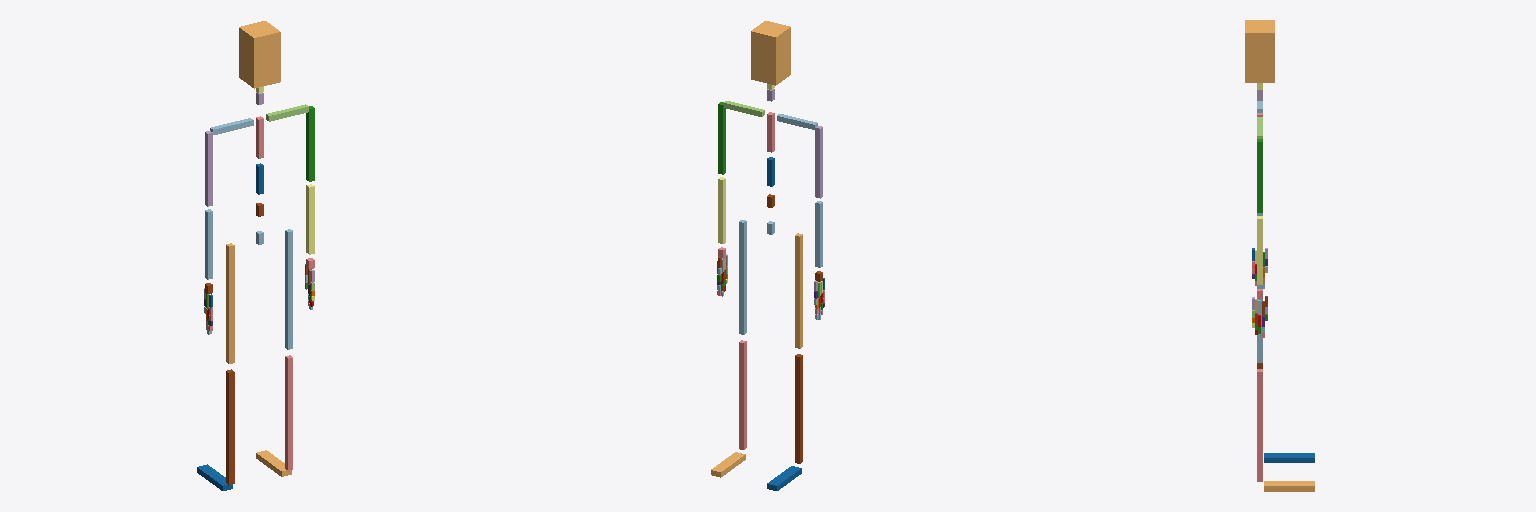
--- What the picture shows (computed from the rendered views, not written in the file) ---
3 views of the same robot in one strip: view 1: azimuth 30°, elevation 25°; view 2: azimuth 150°, elevation 25°; view 3: azimuth 270°, elevation 25° (orthographic).
Model converted with 179 links and 178 joints (178 revolute), rooted at base_link, posed every joint at zero.
Visible links, largest first — view 1: link_Head_Y, link_LeftUpLeg_Y, link_LeftLeg_Y, link_RightUpLeg_Y, link_RightLeg_Y, link_RightArm_Y, link_RightForeArm_Y, link_LeftArm_Y, link_LeftForeArm_Y; view 2: link_Head_Y, link_LeftUpLeg_Y, link_RightUpLeg_Y, link_LeftLeg_Y, link_RightLeg_Y, link_LeftArm_Y, link_RightArm_Y, link_RightForeArm_Y, link_LeftForeArm_Y; view 3: link_Head_Y, link_RightLeg_Y, link_RightFoot_Y.
Boxes of the visible links, bbox=[...] form: link_Head_Y: bbox=[239, 21, 280, 88]; link_LeftUpLeg_Y: bbox=[226, 243, 234, 363]; link_LeftLeg_Y: bbox=[226, 369, 234, 484]; link_RightUpLeg_Y: bbox=[285, 229, 292, 349]; link_RightLeg_Y: bbox=[285, 355, 292, 470]; link_RightArm_Y: bbox=[306, 106, 314, 181]; link_RightForeArm_Y: bbox=[306, 184, 314, 254]; link_LeftArm_Y: bbox=[205, 131, 212, 206]; link_LeftForeArm_Y: bbox=[205, 209, 212, 279]; link_Head_Y: bbox=[751, 21, 790, 85]; link_LeftUpLeg_Y: bbox=[795, 233, 802, 348]; link_RightUpLeg_Y: bbox=[739, 220, 746, 334]; link_LeftLeg_Y: bbox=[795, 354, 802, 463]; link_RightLeg_Y: bbox=[739, 340, 746, 449]; link_LeftArm_Y: bbox=[815, 126, 822, 198]; link_RightArm_Y: bbox=[718, 102, 725, 174]; link_RightForeArm_Y: bbox=[718, 177, 725, 243]; link_LeftForeArm_Y: bbox=[815, 201, 822, 267]; link_Head_Y: bbox=[1245, 20, 1274, 82]; link_RightLeg_Y: bbox=[1257, 369, 1262, 481]; link_RightFoot_Y: bbox=[1264, 481, 1314, 491].
Bounding box of the posed robot: 0.4 × 0.2313 × 1.63 m (x, y, z).
Geometry: primitives only (box / cylinder / sphere), no mesh files.

URDF robot description (converted):
<?xml version="1.0"?>
<robot name="converted">
    <!--LINKS-->
    <link name="base_link" />
    <link name="link_Hips_R" />
    <link name="link_Hips_P" />
    <link name="link_Hips_Y">
        <inertia ixx="1.0" ixy="0.0" ixz="0.0" iyy="1.0" iyz="0.0" izz="1.0" />
        <mass value="5.000000" />
        <visual>
            <origin rpy="0 0 0" xyz="0 0 0" />
            <geometry>
                <box size="0.02 0.02 0.04" />
            </geometry>
            <material name="mat_col_(0.6509803921568628, 0.807843137254902, 0.8901960784313725)">
                <color rgba="0.65 0.81 0.89 1.0" />
            </material>
        </visual>
    </link>
    <link name="link_RightUpLeg_R" />
    <link name="link_RightUpLeg_P" />
    <link name="link_RightUpLeg_Y">
        <inertia ixx="1.0" ixy="0.0" ixz="0.0" iyy="1.0" iyz="0.0" izz="1.0" />
        <mass value="5.000000" />
        <visual>
            <origin rpy="0 0 0" xyz="0 0 -0.21" />
            <geometry>
                <box size="0.02 0.02 0.42" />
            </geometry>
            <material name="mat_col_(0.6509803921568628, 0.807843137254902, 0.8901960784313725)">
                <color rgba="0.65 0.81 0.89 1.0" />
            </material>
        </visual>
    </link>
    <link name="link_RightLeg_R" />
    <link name="link_RightLeg_P" />
    <link name="link_RightLeg_Y">
        <inertia ixx="1.0" ixy="0.0" ixz="0.0" iyy="1.0" iyz="0.0" izz="1.0" />
        <mass value="5.000000" />
        <visual>
            <origin rpy="0 0 0" xyz="0 0 -0.2" />
            <geometry>
                <box size="0.02 0.02 0.4" />
            </geometry>
            <material name="mat_col_(0.984313725490196, 0.6039215686274509, 0.6)">
                <color rgba="0.98 0.60 0.60 1.0" />
            </material>
        </visual>
    </link>
    <link name="link_RightFoot_R" />
    <link name="link_RightFoot_P" />
    <link name="link_RightFoot_Y">
        <inertia ixx="1.0" ixy="0.0" ixz="0.0" iyy="1.0" iyz="0.0" izz="1.0" />
        <mass value="5.000000" />
        <visual>
            <origin rpy="0 0 0" xyz="0 0.0978897124528885 0" />
            <geometry>
                <box size="0.04 0.16677506566047667 0.02" />
            </geometry>
            <material name="mat_col_(0.9921568627450981, 0.7490196078431373, 0.43529411764705883)">
                <color rgba="0.99 0.75 0.44 1.0" />
            </material>
        </visual>
    </link>
    <link name="link_LeftUpLeg_R" />
    <link name="link_LeftUpLeg_P" />
    <link name="link_LeftUpLeg_Y">
        <inertia ixx="1.0" ixy="0.0" ixz="0.0" iyy="1.0" iyz="0.0" izz="1.0" />
        <mass value="5.000000" />
        <visual>
            <origin rpy="0 0 0" xyz="0 0 -0.21" />
            <geometry>
                <box size="0.02 0.02 0.42" />
            </geometry>
            <material name="mat_col_(0.9921568627450981, 0.7490196078431373, 0.43529411764705883)">
                <color rgba="0.99 0.75 0.44 1.0" />
            </material>
        </visual>
    </link>
    <link name="link_LeftLeg_R" />
    <link name="link_LeftLeg_P" />
    <link name="link_LeftLeg_Y">
        <inertia ixx="1.0" ixy="0.0" ixz="0.0" iyy="1.0" iyz="0.0" izz="1.0" />
        <mass value="5.000000" />
        <visual>
            <origin rpy="0 0 0" xyz="0 0 -0.2" />
            <geometry>
                <box size="0.02 0.02 0.4" />
            </geometry>
            <material name="mat_col_(0.6941176470588235, 0.34901960784313724, 0.1568627450980392)">
                <color rgba="0.69 0.35 0.16 1.0" />
            </material>
        </visual>
    </link>
    <link name="link_LeftFoot_R" />
    <link name="link_LeftFoot_P" />
    <link name="link_LeftFoot_Y">
        <inertia ixx="1.0" ixy="0.0" ixz="0.0" iyy="1.0" iyz="0.0" izz="1.0" />
        <mass value="5.000000" />
        <visual>
            <origin rpy="0 0 0" xyz="0 0.0978897124528885 0" />
            <geometry>
                <box size="0.04 0.16677506566047667 0.02" />
            </geometry>
            <material name="mat_col_(0.12156862745098039, 0.47058823529411764, 0.7058823529411765)">
                <color rgba="0.12 0.47 0.71 1.0" />
            </material>
        </visual>
    </link>
    <link name="link_Spine_R" />
    <link name="link_Spine_P" />
    <link name="link_Spine_Y">
        <inertia ixx="1.0" ixy="0.0" ixz="0.0" iyy="1.0" iyz="0.0" izz="1.0" />
        <mass value="5.000000" />
        <visual>
            <origin rpy="0 0 0" xyz="0 0 0.02" />
            <geometry>
                <box size="0.02 0.02 0.04" />
            </geometry>
            <material name="mat_col_(0.6941176470588235, 0.34901960784313724, 0.1568627450980392)">
                <color rgba="0.69 0.35 0.16 1.0" />
            </material>
        </visual>
    </link>
    <link name="link_Spine1_R" />
    <link name="link_Spine1_P" />
    <link name="link_Spine1_Y">
        <inertia ixx="1.0" ixy="0.0" ixz="0.0" iyy="1.0" iyz="0.0" izz="1.0" />
        <mass value="5.000000" />
        <visual>
            <origin rpy="0 0 0" xyz="0 0 0.05" />
            <geometry>
                <box size="0.02 0.02 0.10" />
            </geometry>
            <material name="mat_col_(0.12156862745098039, 0.47058823529411764, 0.7058823529411765)">
                <color rgba="0.12 0.47 0.71 1.0" />
            </material>
        </visual>
    </link>
    <link name="link_Spine2_R" />
    <link name="link_Spine2_P" />
    <link name="link_Spine2_Y">
        <inertia ixx="1.0" ixy="0.0" ixz="0.0" iyy="1.0" iyz="0.0" izz="1.0" />
        <mass value="5.000000" />
        <visual>
            <origin rpy="0 0 0" xyz="0 0 0.07" />
            <geometry>
                <box size="0.02 0.02 0.14" />
            </geometry>
            <material name="mat_col_(0.984313725490196, 0.6039215686274509, 0.6)">
                <color rgba="0.98 0.60 0.60 1.0" />
            </material>
        </visual>
    </link>
    <link name="link_Neck_R" />
    <link name="link_Neck_P" />
    <link name="link_Neck_Y">
        <inertia ixx="1.0" ixy="0.0" ixz="0.0" iyy="1.0" iyz="0.0" izz="1.0" />
        <mass value="5.000000" />
        <visual>
            <origin rpy="0 0 0" xyz="0 0 0.02" />
            <geometry>
                <box size="0.02 0.02 0.04" />
            </geometry>
            <material name="mat_col_(0.792156862745098, 0.6980392156862745, 0.8392156862745098)">
                <color rgba="0.79 0.70 0.84 1.0" />
            </material>
        </visual>
    </link>
    <link name="link_Neck1_R" />
    <link name="link_Neck1_P" />
    <link name="link_Neck1_Y">
        <inertia ixx="1.0" ixy="0.0" ixz="0.0" iyy="1.0" iyz="0.0" izz="1.0" />
        <mass value="5.000000" />
        <visual>
            <origin rpy="0 0 0" xyz="0 0 0.02" />
            <geometry>
                <box size="0.02 0.02 0.04" />
            </geometry>
            <material name="mat_col_(1.0, 1.0, 0.6)">
                <color rgba="1.00 1.00 0.60 1.0" />
            </material>
        </visual>
    </link>
    <link name="link_Head_R" />
    <link name="link_Head_P" />
    <link name="link_Head_Y">
        <inertia ixx="1.0" ixy="0.0" ixz="0.0" iyy="1.0" iyz="0.0" izz="1.0" />
        <mass value="5.000000" />
        <visual>
            <origin rpy="0 0 0" xyz="0 0 0.09" />
            <geometry>
                <box size="0.10 0.10 0.18" />
            </geometry>
            <material name="mat_col_(0.9921568627450981, 0.7490196078431373, 0.43529411764705883)">
                <color rgba="0.99 0.75 0.44 1.0" />
            </material>
        </visual>
    </link>
    <link name="link_RightShoulder_R" />
    <link name="link_RightShoulder_P" />
    <link name="link_RightShoulder_Y">
        <inertia ixx="1.0" ixy="0.0" ixz="0.0" iyy="1.0" iyz="0.0" izz="1.0" />
        <mass value="5.000000" />
        <visual>
            <origin rpy="0 0 0" xyz="0.075 0  0" />
            <geometry>
                <box size="0.15 0.02 0.02" />
            </geometry>
            <material name="mat_col_(0.6980392156862745, 0.8745098039215686, 0.5411764705882353)">
                <color rgba="0.70 0.87 0.54 1.0" />
            </material>
        </visual>
    </link>
    <link name="link_RightArm_R" />
    <link name="link_RightArm_P" />
    <link name="link_RightArm_Y">
        <inertia ixx="1.0" ixy="0.0" ixz="0.0" iyy="1.0" iyz="0.0" izz="1.0" />
        <mass value="5.000000" />
        <visual>
            <origin rpy="0 0 0" xyz="0 0 -0.13" />
            <geometry>
                <box size="0.02 0.02 0.26" />
            </geometry>
            <material name="mat_col_(0.2, 0.6274509803921569, 0.17254901960784313)">
                <color rgba="0.20 0.63 0.17 1.0" />
            </material>
        </visual>
    </link>
    <link name="link_RightForeArm_R" />
    <link name="link_RightForeArm_P" />
    <link name="link_RightForeArm_Y">
        <inertia ixx="1.0" ixy="0.0" ixz="0.0" iyy="1.0" iyz="0.0" izz="1.0" />
        <mass value="5.000000" />
        <visual>
            <origin rpy="0 0 0" xyz="0 0 -0.12" />
            <geometry>
                <box size="0.02 0.02 0.24" />
            </geometry>
            <material name="mat_col_(1.0, 1.0, 0.6)">
                <color rgba="1.00 1.00 0.60 1.0" />
            </material>
        </visual>
    </link>
    <link name="link_RightHand_R" />
    <link name="link_RightHand_P" />
    <link name="link_RightHand_Y">
        <inertia ixx="1.0" ixy="0.0" ixz="0.0" iyy="1.0" iyz="0.0" izz="1.0" />
        <mass value="5.000000" />
        <visual>
            <origin rpy="0 0 0" xyz="0 0 -0.017634012177586554" />
            <geometry>
                <box size="0.02 0.02 0.030043131858110427" />
            </geometry>
            <material name="mat_col_(0.984313725490196, 0.6039215686274509, 0.6)">
                <color rgba="0.98 0.60 0.60 1.0" />
            </material>
        </visual>
    </link>
    <link name="link_RightHandThumb1_R" />
    <link name="link_RightHandThumb1_P" />
    <link name="link_RightHandThumb1_Y">
        <inertia ixx="1.0" ixy="0.0" ixz="0.0" iyy="1.0" iyz="0.0" izz="1.0" />
        <mass value="5.000000" />
        <visual>
            <origin rpy="0 0 0" xyz="0 0 -0.02090881034731865" />
            <geometry>
                <box size="0.01 0.01 0.035622417628765106" />
            </geometry>
            <material name="mat_col_(0.6941176470588235, 0.34901960784313724, 0.1568627450980392)">
                <color rgba="0.69 0.35 0.16 1.0" />
            </material>
        </visual>
    </link>
    <link name="link_RightHandThumb2_R" />
    <link name="link_RightHandThumb2_P" />
    <link name="link_RightHandThumb2_Y">
        <inertia ixx="1.0" ixy="0.0" ixz="0.0" iyy="1.0" iyz="0.0" izz="1.0" />
        <mass value="5.000000" />
        <visual>
            <origin rpy="0 0 0" xyz="0 0 -0.014525998458266258" />
            <geometry>
                <box size="0.01 0.01 0.024747997373342514" />
            </geometry>
            <material name="mat_col_(0.6509803921568628, 0.807843137254902, 0.8901960784313725)">
                <color rgba="0.65 0.81 0.89 1.0" />
            </material>
        </visual>
    </link>
    <link name="link_RightHandThumb3_R" />
    <link name="link_RightHandThumb3_P" />
    <link name="link_RightHandThumb3_Y">
        <inertia ixx="1.0" ixy="0.0" ixz="0.0" iyy="1.0" iyz="0.0" izz="1.0" />
        <mass value="5.000000" />
        <visual>
            <origin rpy="0 0 0" xyz="0 0 -0.013699802979826927" />
            <geometry>
                <box size="0.01 0.01 0.023340405076742173" />
            </geometry>
            <material name="mat_col_(0.2, 0.6274509803921569, 0.17254901960784313)">
                <color rgba="0.20 0.63 0.17 1.0" />
            </material>
        </visual>
    </link>
    <link name="link_RightInHandIndex_R" />
    <link name="link_RightInHandIndex_P" />
    <link name="link_RightInHandIndex_Y">
        <inertia ixx="1.0" ixy="0.0" ixz="0.0" iyy="1.0" iyz="0.0" izz="1.0" />
        <mass value="5.000000" />
        <visual>
            <origin rpy="0 0 0" xyz="0 0 -0.030162290632724763" />
            <geometry>
                <box size="0.01 0.01 0.051387606263160704" />
            </geometry>
            <material name="mat_col_(0.6941176470588235, 0.34901960784313724, 0.1568627450980392)">
                <color rgba="0.69 0.35 0.16 1.0" />
            </material>
        </visual>
    </link>
    <link name="link_RightHandIndex1_R" />
    <link name="link_RightHandIndex1_P" />
    <link name="link_RightHandIndex1_Y">
        <inertia ixx="1.0" ixy="0.0" ixz="0.0" iyy="1.0" iyz="0.0" izz="1.0" />
        <mass value="5.000000" />
        <visual>
            <origin rpy="0 0 0" xyz="0 0 -0.020552407130599023" />
            <geometry>
                <box size="0.01 0.01 0.03501521214842796" />
            </geometry>
            <material name="mat_col_(0.41568627450980394, 0.23921568627450981, 0.6039215686274509)">
                <color rgba="0.42 0.24 0.60 1.0" />
            </material>
        </visual>
    </link>
    <link name="link_RightHandIndex2_R" />
    <link name="link_RightHandIndex2_P" />
    <link name="link_RightHandIndex2_Y">
        <inertia ixx="1.0" ixy="0.0" ixz="0.0" iyy="1.0" iyz="0.0" izz="1.0" />
        <mass value="5.000000" />
        <visual>
            <origin rpy="0 0 0" xyz="0 0 -0.011653190664947032" />
            <geometry>
                <box size="0.01 0.01 0.019853584095835687" />
            </geometry>
            <material name="mat_col_(0.6509803921568628, 0.807843137254902, 0.8901960784313725)">
                <color rgba="0.65 0.81 0.89 1.0" />
            </material>
        </visual>
    </link>
    <link name="link_RightHandIndex3_R" />
    <link name="link_RightHandIndex3_P" />
    <link name="link_RightHandIndex3_Y">
        <inertia ixx="1.0" ixy="0.0" ixz="0.0" iyy="1.0" iyz="0.0" izz="1.0" />
        <mass value="5.000000" />
        <visual>
            <origin rpy="0 0 0" xyz="0 0 -0.010249215178191662" />
            <geometry>
                <box size="0.01 0.01 0.01746162585914135" />
            </geometry>
            <material name="mat_col_(0.984313725490196, 0.6039215686274509, 0.6)">
                <color rgba="0.98 0.60 0.60 1.0" />
            </material>
        </visual>
    </link>
    <link name="link_RightInHandMiddle_R" />
    <link name="link_RightInHandMiddle_P" />
    <link name="link_RightInHandMiddle_Y">
        <inertia ixx="1.0" ixy="0.0" ixz="0.0" iyy="1.0" iyz="0.0" izz="1.0" />
        <mass value="5.000000" />
        <visual>
            <origin rpy="0 0 0" xyz="0 0 -0.02943922273814678" />
            <geometry>
                <box size="0.01 0.01 0.050155712813138964" />
            </geometry>
            <material name="mat_col_(0.6509803921568628, 0.807843137254902, 0.8901960784313725)">
                <color rgba="0.65 0.81 0.89 1.0" />
            </material>
        </visual>
    </link>
    <link name="link_RightHandMiddle1_R" />
    <link name="link_RightHandMiddle1_P" />
    <link name="link_RightHandMiddle1_Y">
        <inertia ixx="1.0" ixy="0.0" ixz="0.0" iyy="1.0" iyz="0.0" izz="1.0" />
        <mass value="5.000000" />
        <visual>
            <origin rpy="0 0 0" xyz="0 0 -0.022426203042268753" />
            <geometry>
                <box size="0.01 0.01 0.03820760518312454" />
            </geometry>
            <material name="mat_col_(0.8901960784313725, 0.10196078431372549, 0.10980392156862745)">
                <color rgba="0.89 0.10 0.11 1.0" />
            </material>
        </visual>
    </link>
    <link name="link_RightHandMiddle2_R" />
    <link name="link_RightHandMiddle2_P" />
    <link name="link_RightHandMiddle2_Y">
        <inertia ixx="1.0" ixy="0.0" ixz="0.0" iyy="1.0" iyz="0.0" izz="1.0" />
        <mass value="5.000000" />
        <visual>
            <origin rpy="0 0 0" xyz="0 0 -0.014056202173233032" />
            <geometry>
                <box size="0.01 0.01 0.023947603702545166" />
            </geometry>
            <material name="mat_col_(0.2, 0.6274509803921569, 0.17254901960784313)">
                <color rgba="0.20 0.63 0.17 1.0" />
            </material>
        </visual>
    </link>
    <link name="link_RightHandMiddle3_R" />
    <link name="link_RightHandMiddle3_P" />
    <link name="link_RightHandMiddle3_Y">
        <inertia ixx="1.0" ixy="0.0" ixz="0.0" iyy="1.0" iyz="0.0" izz="1.0" />
        <mass value="5.000000" />
        <visual>
            <origin rpy="0 0 0" xyz="0 0 -0.011210399866104125" />
            <geometry>
                <box size="0.01 0.01 0.019099199771881105" />
            </geometry>
            <material name="mat_col_(0.6509803921568628, 0.807843137254902, 0.8901960784313725)">
                <color rgba="0.65 0.81 0.89 1.0" />
            </material>
        </visual>
    </link>
    <link name="link_RightInHandRing_R" />
    <link name="link_RightInHandRing_P" />
    <link name="link_RightInHandRing_Y">
        <inertia ixx="1.0" ixy="0.0" ixz="0.0" iyy="1.0" iyz="0.0" izz="1.0" />
        <mass value="5.000000" />
        <visual>
            <origin rpy="0 0 0" xyz="0 0 -0.026454875618219374" />
            <geometry>
                <box size="0.01 0.01 0.04507126957178116" />
            </geometry>
            <material name="mat_col_(0.9921568627450981, 0.7490196078431373, 0.43529411764705883)">
                <color rgba="0.99 0.75 0.44 1.0" />
            </material>
        </visual>
    </link>
    <link name="link_RightHandRing1_R" />
    <link name="link_RightHandRing1_P" />
    <link name="link_RightHandRing1_Y">
        <inertia ixx="1.0" ixy="0.0" ixz="0.0" iyy="1.0" iyz="0.0" izz="1.0" />
        <mass value="5.000000" />
        <visual>
            <origin rpy="0 0 0" xyz="0 0 -0.019542589634656906" />
            <geometry>
                <box size="0.01 0.01 0.03329478234052658" />
            </geometry>
            <material name="mat_col_(0.6941176470588235, 0.34901960784313724, 0.1568627450980392)">
                <color rgba="0.69 0.35 0.16 1.0" />
            </material>
        </visual>
    </link>
    <link name="link_RightHandRing2_R" />
    <link name="link_RightHandRing2_P" />
    <link name="link_RightHandRing2_Y">
        <inertia ixx="1.0" ixy="0.0" ixz="0.0" iyy="1.0" iyz="0.0" izz="1.0" />
        <mass value="5.000000" />
        <visual>
            <origin rpy="0 0 0" xyz="0 0 -0.01355940341949463" />
            <geometry>
                <box size="0.01 0.01 0.023101205825805663" />
            </geometry>
            <material name="mat_col_(0.2, 0.6274509803921569, 0.17254901960784313)">
                <color rgba="0.20 0.63 0.17 1.0" />
            </material>
        </visual>
    </link>
    <link name="link_RightHandRing3_R" />
    <link name="link_RightHandRing3_P" />
    <link name="link_RightHandRing3_Y">
        <inertia ixx="1.0" ixy="0.0" ixz="0.0" iyy="1.0" iyz="0.0" izz="1.0" />
        <mass value="5.000000" />
        <visual>
            <origin rpy="0 0 0" xyz="0 0 -0.010540791749954224" />
            <geometry>
                <box size="0.01 0.01 0.017958385944366453" />
            </geometry>
            <material name="mat_col_(0.8901960784313725, 0.10196078431372549, 0.10980392156862745)">
                <color rgba="0.89 0.10 0.11 1.0" />
            </material>
        </visual>
    </link>
    <link name="link_RightInHandPinky_R" />
    <link name="link_RightInHandPinky_P" />
    <link name="link_RightInHandPinky_Y">
        <inertia ixx="1.0" ixy="0.0" ixz="0.0" iyy="1.0" iyz="0.0" izz="1.0" />
        <mass value="5.000000" />
        <visual>
            <origin rpy="0 0 0" xyz="0 0 -0.024314074516296386" />
            <geometry>
                <box size="0.01 0.01 0.041423978805541994" />
            </geometry>
            <material name="mat_col_(0.792156862745098, 0.6980392156862745, 0.8392156862745098)">
                <color rgba="0.79 0.70 0.84 1.0" />
            </material>
        </visual>
    </link>
    <link name="link_RightHandPinky1_R" />
    <link name="link_RightHandPinky1_P" />
    <link name="link_RightHandPinky1_Y">
        <inertia ixx="1.0" ixy="0.0" ixz="0.0" iyy="1.0" iyz="0.0" izz="1.0" />
        <mass value="5.000000" />
        <visual>
            <origin rpy="0 0 0" xyz="0 0 -0.015649211034178732" />
            <geometry>
                <box size="0.01 0.01 0.026661618798971175" />
            </geometry>
            <material name="mat_col_(0.6980392156862745, 0.8745098039215686, 0.5411764705882353)">
                <color rgba="0.70 0.87 0.54 1.0" />
            </material>
        </visual>
    </link>
    <link name="link_RightHandPinky2_R" />
    <link name="link_RightHandPinky2_P" />
    <link name="link_RightHandPinky2_Y">
        <inertia ixx="1.0" ixy="0.0" ixz="0.0" iyy="1.0" iyz="0.0" izz="1.0" />
        <mass value="5.000000" />
        <visual>
            <origin rpy="0 0 0" xyz="0 0 -0.009887406639754771" />
            <geometry>
                <box size="0.01 0.01 0.0168452113121748" />
            </geometry>
            <material name="mat_col_(1.0, 0.4980392156862745, 0.0)">
                <color rgba="1.00 0.50 0.00 1.0" />
            </material>
        </visual>
    </link>
    <link name="link_RightHandPinky3_R" />
    <link name="link_RightHandPinky3_P" />
    <link name="link_RightHandPinky3_Y">
        <inertia ixx="1.0" ixy="0.0" ixz="0.0" iyy="1.0" iyz="0.0" izz="1.0" />
        <mass value="5.000000" />
        <visual>
            <origin rpy="0 0 0" xyz="0 0 -0.009342006258666515" />
            <geometry>
                <box size="0.01 0.01 0.015916010662913323" />
            </geometry>
            <material name="mat_col_(1.0, 1.0, 0.6)">
                <color rgba="1.00 1.00 0.60 1.0" />
            </material>
        </visual>
    </link>
    <link name="link_LeftShoulder_R" />
    <link name="link_LeftShoulder_P" />
    <link name="link_LeftShoulder_Y">
        <inertia ixx="1.0" ixy="0.0" ixz="0.0" iyy="1.0" iyz="0.0" izz="1.0" />
        <mass value="5.000000" />
        <visual>
            <origin rpy="0 0 0" xyz="-0.075 0 0" />
            <geometry>
                <box size="0.15 0.02 0.02" />
            </geometry>
            <material name="mat_col_(0.6509803921568628, 0.807843137254902, 0.8901960784313725)">
                <color rgba="0.65 0.81 0.89 1.0" />
            </material>
        </visual>
    </link>
    <link name="link_LeftArm_R" />
    <link name="link_LeftArm_P" />
    <link name="link_LeftArm_Y">
        <inertia ixx="1.0" ixy="0.0" ixz="0.0" iyy="1.0" iyz="0.0" izz="1.0" />
        <mass value="5.000000" />
        <visual>
            <origin rpy="0 0 0" xyz="0 0 -0.13" />
            <geometry>
                <box size="0.02 0.02 0.26" />
            </geometry>
            <material name="mat_col_(0.792156862745098, 0.6980392156862745, 0.8392156862745098)">
                <color rgba="0.79 0.70 0.84 1.0" />
            </material>
        </visual>
    </link>
    <link name="link_LeftForeArm_R" />
    <link name="link_LeftForeArm_P" />
    <link name="link_LeftForeArm_Y">
        <inertia ixx="1.0" ixy="0.0" ixz="0.0" iyy="1.0" iyz="0.0" izz="1.0" />
        <mass value="5.000000" />
        <visual>
            <origin rpy="0 0 0" xyz="0 0 -0.12" />
            <geometry>
                <box size="0.02 0.02 0.24" />
            </geometry>
            <material name="mat_col_(0.6509803921568628, 0.807843137254902, 0.8901960784313725)">
                <color rgba="0.65 0.81 0.89 1.0" />
            </material>
        </visual>
    </link>
    <link name="link_LeftHand_R" />
    <link name="link_LeftHand_P" />
    <link name="link_LeftHand_Y">
        <inertia ixx="1.0" ixy="0.0" ixz="0.0" iyy="1.0" iyz="0.0" izz="1.0" />
        <mass value="5.000000" />
        <visual>
            <origin rpy="0 0 0" xyz="0 0 -0.017634012177586554" />
            <geometry>
                <box size="0.02 0.02 0.030043131858110427" />
            </geometry>
            <material name="mat_col_(0.6941176470588235, 0.34901960784313724, 0.1568627450980392)">
                <color rgba="0.69 0.35 0.16 1.0" />
            </material>
        </visual>
    </link>
    <link name="link_LeftHandThumb1_R" />
    <link name="link_LeftHandThumb1_P" />
    <link name="link_LeftHandThumb1_Y">
        <inertia ixx="1.0" ixy="0.0" ixz="0.0" iyy="1.0" iyz="0.0" izz="1.0" />
        <mass value="5.000000" />
        <visual>
            <origin rpy="0 0 0" xyz="0 0 -0.02090881034731865" />
            <geometry>
                <box size="0.01 0.01 0.035622417628765106" />
            </geometry>
            <material name="mat_col_(0.792156862745098, 0.6980392156862745, 0.8392156862745098)">
                <color rgba="0.79 0.70 0.84 1.0" />
            </material>
        </visual>
    </link>
    <link name="link_LeftHandThumb2_R" />
    <link name="link_LeftHandThumb2_P" />
    <link name="link_LeftHandThumb2_Y">
        <inertia ixx="1.0" ixy="0.0" ixz="0.0" iyy="1.0" iyz="0.0" izz="1.0" />
        <mass value="5.000000" />
        <visual>
            <origin rpy="0 0 0" xyz="0 0 -0.014525998458266258" />
            <geometry>
                <box size="0.01 0.01 0.024747997373342514" />
            </geometry>
            <material name="mat_col_(0.41568627450980394, 0.23921568627450981, 0.6039215686274509)">
                <color rgba="0.42 0.24 0.60 1.0" />
            </material>
        </visual>
    </link>
    <link name="link_LeftHandThumb3_R" />
    <link name="link_LeftHandThumb3_P" />
    <link name="link_LeftHandThumb3_Y">
        <inertia ixx="1.0" ixy="0.0" ixz="0.0" iyy="1.0" iyz="0.0" izz="1.0" />
        <mass value="5.000000" />
        <visual>
            <origin rpy="0 0 0" xyz="0 0 -0.013699802979826927" />
            <geometry>
                <box size="0.01 0.01 0.023340405076742173" />
            </geometry>
            <material name="mat_col_(0.6509803921568628, 0.807843137254902, 0.8901960784313725)">
                <color rgba="0.65 0.81 0.89 1.0" />
            </material>
        </visual>
    </link>
    <link name="link_LeftInHandIndex_R" />
    <link name="link_LeftInHandIndex_P" />
    <link name="link_LeftInHandIndex_Y">
        <inertia ixx="1.0" ixy="0.0" ixz="0.0" iyy="1.0" iyz="0.0" izz="1.0" />
        <mass value="5.000000" />
        <visual>
            <origin rpy="0 0 0" xyz="0 0 -0.030162290632724763" />
            <geometry>
                <box size="0.01 0.01 0.051387606263160704" />
            </geometry>
            <material name="mat_col_(0.2, 0.6274509803921569, 0.17254901960784313)">
                <color rgba="0.20 0.63 0.17 1.0" />
            </material>
        </visual>
    </link>
    <link name="link_LeftHandIndex1_R" />
    <link name="link_LeftHandIndex1_P" />
    <link name="link_LeftHandIndex1_Y">
        <inertia ixx="1.0" ixy="0.0" ixz="0.0" iyy="1.0" iyz="0.0" izz="1.0" />
        <mass value="5.000000" />
        <visual>
            <origin rpy="0 0 0" xyz="0 0 -0.020552407130599023" />
            <geometry>
                <box size="0.01 0.01 0.03501521214842796" />
            </geometry>
            <material name="mat_col_(1.0, 0.4980392156862745, 0.0)">
                <color rgba="1.00 0.50 0.00 1.0" />
            </material>
        </visual>
    </link>
    <link name="link_LeftHandIndex2_R" />
    <link name="link_LeftHandIndex2_P" />
    <link name="link_LeftHandIndex2_Y">
        <inertia ixx="1.0" ixy="0.0" ixz="0.0" iyy="1.0" iyz="0.0" izz="1.0" />
        <mass value="5.000000" />
        <visual>
            <origin rpy="0 0 0" xyz="0 0 -0.011653190664947032" />
            <geometry>
                <box size="0.01 0.01 0.019853584095835687" />
            </geometry>
            <material name="mat_col_(0.984313725490196, 0.6039215686274509, 0.6)">
                <color rgba="0.98 0.60 0.60 1.0" />
            </material>
        </visual>
    </link>
    <link name="link_LeftHandIndex3_R" />
    <link name="link_LeftHandIndex3_P" />
    <link name="link_LeftHandIndex3_Y">
        <inertia ixx="1.0" ixy="0.0" ixz="0.0" iyy="1.0" iyz="0.0" izz="1.0" />
        <mass value="5.000000" />
        <visual>
            <origin rpy="0 0 0" xyz="0 0 -0.010249215178191662" />
            <geometry>
                <box size="0.01 0.01 0.01746162585914135" />
            </geometry>
            <material name="mat_col_(0.6509803921568628, 0.807843137254902, 0.8901960784313725)">
                <color rgba="0.65 0.81 0.89 1.0" />
            </material>
        </visual>
    </link>
    <link name="link_LeftInHandMiddle_R" />
    <link name="link_LeftInHandMiddle_P" />
    <link name="link_LeftInHandMiddle_Y">
        <inertia ixx="1.0" ixy="0.0" ixz="0.0" iyy="1.0" iyz="0.0" izz="1.0" />
        <mass value="5.000000" />
        <visual>
            <origin rpy="0 0 0" xyz="0 0 -0.02943922273814678" />
            <geometry>
                <box size="0.01 0.01 0.050155712813138964" />
            </geometry>
            <material name="mat_col_(0.6980392156862745, 0.8745098039215686, 0.5411764705882353)">
                <color rgba="0.70 0.87 0.54 1.0" />
            </material>
        </visual>
    </link>
    <link name="link_LeftHandMiddle1_R" />
    <link name="link_LeftHandMiddle1_P" />
    <link name="link_LeftHandMiddle1_Y">
        <inertia ixx="1.0" ixy="0.0" ixz="0.0" iyy="1.0" iyz="0.0" izz="1.0" />
        <mass value="5.000000" />
        <visual>
            <origin rpy="0 0 0" xyz="0 0 -0.022426203042268753" />
            <geometry>
                <box size="0.01 0.01 0.03820760518312454" />
            </geometry>
            <material name="mat_col_(0.6941176470588235, 0.34901960784313724, 0.1568627450980392)">
                <color rgba="0.69 0.35 0.16 1.0" />
            </material>
        </visual>
    </link>
    <link name="link_LeftHandMiddle2_R" />
    <link name="link_LeftHandMiddle2_P" />
    <link name="link_LeftHandMiddle2_Y">
        <inertia ixx="1.0" ixy="0.0" ixz="0.0" iyy="1.0" iyz="0.0" izz="1.0" />
        <mass value="5.000000" />
        <visual>
            <origin rpy="0 0 0" xyz="0 0 -0.014056202173233032" />
            <geometry>
                <box size="0.01 0.01 0.023947603702545166" />
            </geometry>
            <material name="mat_col_(0.6509803921568628, 0.807843137254902, 0.8901960784313725)">
                <color rgba="0.65 0.81 0.89 1.0" />
            </material>
        </visual>
    </link>
    <link name="link_LeftHandMiddle3_R" />
    <link name="link_LeftHandMiddle3_P" />
    <link name="link_LeftHandMiddle3_Y">
        <inertia ixx="1.0" ixy="0.0" ixz="0.0" iyy="1.0" iyz="0.0" izz="1.0" />
        <mass value="5.000000" />
        <visual>
            <origin rpy="0 0 0" xyz="0 0 -0.011210399866104125" />
            <geometry>
                <box size="0.01 0.01 0.019099199771881105" />
            </geometry>
            <material name="mat_col_(0.6509803921568628, 0.807843137254902, 0.8901960784313725)">
                <color rgba="0.65 0.81 0.89 1.0" />
            </material>
        </visual>
    </link>
    <link name="link_LeftInHandRing_R" />
    <link name="link_LeftInHandRing_P" />
    <link name="link_LeftInHandRing_Y">
        <inertia ixx="1.0" ixy="0.0" ixz="0.0" iyy="1.0" iyz="0.0" izz="1.0" />
        <mass value="5.000000" />
        <visual>
            <origin rpy="0 0 0" xyz="0 0 -0.026454875618219374" />
            <geometry>
                <box size="0.01 0.01 0.04507126957178116" />
            </geometry>
            <material name="mat_col_(1.0, 1.0, 0.6)">
                <color rgba="1.00 1.00 0.60 1.0" />
            </material>
        </visual>
    </link>
    <link name="link_LeftHandRing1_R" />
    <link name="link_LeftHandRing1_P" />
    <link name="link_LeftHandRing1_Y">
        <inertia ixx="1.0" ixy="0.0" ixz="0.0" iyy="1.0" iyz="0.0" izz="1.0" />
        <mass value="5.000000" />
        <visual>
            <origin rpy="0 0 0" xyz="0 0 -0.019542589634656906" />
            <geometry>
                <box size="0.01 0.01 0.03329478234052658" />
            </geometry>
            <material name="mat_col_(0.8901960784313725, 0.10196078431372549, 0.10980392156862745)">
                <color rgba="0.89 0.10 0.11 1.0" />
            </material>
        </visual>
    </link>
    <link name="link_LeftHandRing2_R" />
    <link name="link_LeftHandRing2_P" />
    <link name="link_LeftHandRing2_Y">
        <inertia ixx="1.0" ixy="0.0" ixz="0.0" iyy="1.0" iyz="0.0" izz="1.0" />
        <mass value="5.000000" />
        <visual>
            <origin rpy="0 0 0" xyz="0 0 -0.01355940341949463" />
            <geometry>
                <box size="0.01 0.01 0.023101205825805663" />
            </geometry>
            <material name="mat_col_(0.2, 0.6274509803921569, 0.17254901960784313)">
                <color rgba="0.20 0.63 0.17 1.0" />
            </material>
        </visual>
    </link>
    <link name="link_LeftHandRing3_R" />
    <link name="link_LeftHandRing3_P" />
    <link name="link_LeftHandRing3_Y">
        <inertia ixx="1.0" ixy="0.0" ixz="0.0" iyy="1.0" iyz="0.0" izz="1.0" />
        <mass value="5.000000" />
        <visual>
            <origin rpy="0 0 0" xyz="0 0 -0.010540791749954224" />
            <geometry>
                <box size="0.01 0.01 0.017958385944366453" />
            </geometry>
            <material name="mat_col_(0.984313725490196, 0.6039215686274509, 0.6)">
                <color rgba="0.98 0.60 0.60 1.0" />
            </material>
        </visual>
    </link>
    <link name="link_LeftInHandPinky_R" />
    <link name="link_LeftInHandPinky_P" />
    <link name="link_LeftInHandPinky_Y">
        <inertia ixx="1.0" ixy="0.0" ixz="0.0" iyy="1.0" iyz="0.0" izz="1.0" />
        <mass value="5.000000" />
        <visual>
            <origin rpy="0 0 0" xyz="0 0 -0.024314074516296386" />
            <geometry>
                <box size="0.01 0.01 0.041423978805541994" />
            </geometry>
            <material name="mat_col_(0.12156862745098039, 0.47058823529411764, 0.7058823529411765)">
                <color rgba="0.12 0.47 0.71 1.0" />
            </material>
        </visual>
    </link>
    <link name="link_LeftHandPinky1_R" />
    <link name="link_LeftHandPinky1_P" />
    <link name="link_LeftHandPinky1_Y">
        <inertia ixx="1.0" ixy="0.0" ixz="0.0" iyy="1.0" iyz="0.0" izz="1.0" />
        <mass value="5.000000" />
        <visual>
            <origin rpy="0 0 0" xyz="0 0 -0.015649211034178732" />
            <geometry>
                <box size="0.01 0.01 0.026661618798971175" />
            </geometry>
            <material name="mat_col_(0.984313725490196, 0.6039215686274509, 0.6)">
                <color rgba="0.98 0.60 0.60 1.0" />
            </material>
        </visual>
    </link>
    <link name="link_LeftHandPinky2_R" />
    <link name="link_LeftHandPinky2_P" />
    <link name="link_LeftHandPinky2_Y">
        <inertia ixx="1.0" ixy="0.0" ixz="0.0" iyy="1.0" iyz="0.0" izz="1.0" />
        <mass value="5.000000" />
        <visual>
            <origin rpy="0 0 0" xyz="0 0 -0.009887406639754771" />
            <geometry>
                <box size="0.01 0.01 0.0168452113121748" />
            </geometry>
            <material name="mat_col_(0.984313725490196, 0.6039215686274509, 0.6)">
                <color rgba="0.98 0.60 0.60 1.0" />
            </material>
        </visual>
    </link>
    <link name="link_LeftHandPinky3_R" />
    <link name="link_LeftHandPinky3_P" />
    <link name="link_LeftHandPinky3_Y">
        <inertia ixx="1.0" ixy="0.0" ixz="0.0" iyy="1.0" iyz="0.0" izz="1.0" />
        <mass value="5.000000" />
        <visual>
            <origin rpy="0 0 0" xyz="0 0 -0.009342006258666515" />
            <geometry>
                <box size="0.01 0.01 0.015916010662913323" />
            </geometry>
            <material name="mat_col_(0.41568627450980394, 0.23921568627450981, 0.6039215686274509)">
                <color rgba="0.42 0.24 0.60 1.0" />
            </material>
        </visual>
    </link>
    <link name="link_Realsense_Camera">
        <inertia ixx="1.0" ixy="0.0" ixz="0.0" iyy="1.0" iyz="0.0" izz="1.0" />
        <mass value="5.000000" />
    </link>
    <!--JOINTS-->
    <joint name="joint_Head_Camera" type="revolute">
        <parent link="link_Head_R" />
        <child link="link_Realsense_Camera" />
        <axis xyz="1 0 0" />
        <limit effort="100.0000" lower="-3.141592653589793" upper="3.141592653589793"
            velocity="3.0000" />
        <origin rpy="-2.083251 -0.0320048 -0.01900280" xyz="-0.03355291 -0.1370046 -0.02628184" />
    </joint>
    <joint name="joint_Hips_R" type="revolute">
        <parent link="base_link" />
        <child link="link_Hips_R" />
        <axis xyz="1 0 0" />
        <limit effort="100.0000" lower="-3.141592653589793" upper="3.141592653589793"
            velocity="3.0000" />
        <origin rpy="0 0 0" xyz="0.0 0.0 0.971200" />
    </joint>
    <joint name="joint_Hips_P" type="revolute">
        <parent link="link_Hips_R" />
        <child link="link_Hips_P" />
        <axis xyz="0 1 0" />
        <limit effort="100.0000" lower="-3.141592653589793" upper="3.141592653589793"
            velocity="3.0000" />
        <origin xyz="0 0 0" rpy="0 0 0" />
    </joint>
    <joint name="joint_Hips_Y" type="revolute">
        <parent link="link_Hips_P" />
        <child link="link_Hips_Y" />
        <axis xyz="0 0 1" />
        <limit effort="100.0000" lower="-3.141592653589793" upper="3.141592653589793"
            velocity="3.0000" />
        <origin xyz="0 0 0" rpy="0 0 0" />
    </joint>
    <joint name="joint_RightUpLeg_R" type="revolute">
        <parent link="link_Hips_Y" />
        <child link="link_RightUpLeg_R" />
        <axis xyz="1 0 0" />
        <limit effort="100.0000" lower="-3.1415926536" upper="3.1415926536"
            velocity="3.0000" />
        <origin rpy="0.0 0.0 0" xyz="0.110000 0.0 0.0" />
    </joint>
    <joint name="joint_RightUpLeg_P" type="revolute">
        <parent link="link_RightUpLeg_R" />
        <child link="link_RightUpLeg_P" />
        <axis xyz="0 1 0" />
        <limit effort="100.0000" lower="-3.1415926536" upper="3.1415926536"
            velocity="3.0000" />
        <origin xyz="0 0 0" rpy="0 0 0" />
    </joint>
    <joint name="joint_RightUpLeg_Y" type="revolute">
        <parent link="link_RightUpLeg_P" />
        <child link="link_RightUpLeg_Y" />
        <axis xyz="0 0 1" />
        <limit effort="100.0000" lower="-3.1415926536" upper="3.1415926536"
            velocity="3.0000" />
        <origin xyz="0 0 0" rpy="0 0 0" />
    </joint>
    <joint name="joint_RightLeg_R" type="revolute">
        <parent link="link_RightUpLeg_Y" />
        <child link="link_RightLeg_R" />
        <axis xyz="1 0 0" />
        <limit effort="100.0000" lower="-3.1415926536" upper="3.1415926536"
            velocity="3.0000" />
        <origin rpy="0.0 0.0 0.0" xyz="0.0 0.0 -0.450620" />
    </joint>
    <joint name="joint_RightLeg_P" type="revolute">
        <parent link="link_RightLeg_R" />
        <child link="link_RightLeg_P" />
        <axis xyz="0 1 0" />
        <limit effort="100.0000" lower="-3.1415926536" upper="3.1415926536"
            velocity="3.0000" />
        <origin xyz="0 0 0" rpy="0 0 0" />
    </joint>
    <joint name="joint_RightLeg_Y" type="revolute">
        <parent link="link_RightLeg_P" />
        <child link="link_RightLeg_Y" />
        <axis xyz="0 0 1" />
        <limit effort="100.0000" lower="-3.1415926536" upper="3.1415926536"
            velocity="3.0000" />
        <origin xyz="0 0 0" rpy="0 0 0" />
    </joint>
    <joint name="joint_RightFoot_R" type="revolute">
        <parent link="link_RightLeg_Y" />
        <child link="link_RightFoot_R" />
        <axis xyz="1 0 0" />
        <limit effort="100.0000" lower="-3.1415926536" upper="3.1415926536"
            velocity="3.0000" />
        <origin rpy="0 0 0" xyz="0.0 0.0 -0.420580" />
    </joint>
    <joint name="joint_RightFoot_P" type="revolute">
        <parent link="link_RightFoot_R" />
        <child link="link_RightFoot_P" />
        <axis xyz="0 1 0" />
        <limit effort="100.0000" lower="-3.1415926536" upper="3.1415926536"
            velocity="3.0000" />
        <origin xyz="0 0 0" rpy="0 0 0" />
    </joint>
    <joint name="joint_RightFoot_Y" type="revolute">
        <parent link="link_RightFoot_P" />
        <child link="link_RightFoot_Y" />
        <axis xyz="0 0 1" />
        <limit effort="100.0000" lower="-3.1415926536" upper="3.1415926536"
            velocity="3.0000" />
        <origin xyz="0 0 0" rpy="0 0 0" />
    </joint>
    <joint name="joint_LeftUpLeg_R" type="revolute">
        <parent link="link_Hips_Y" />
        <child link="link_LeftUpLeg_R" />
        <axis xyz="1 0 0" />
        <limit effort="100.0000" lower="-3.1415926536" upper="3.1415926536"
            velocity="3.0000" />
        <origin rpy="0.0 0.0 0" xyz="-0.110000 0.0 0.0" />
    </joint>
    <joint name="joint_LeftUpLeg_P" type="revolute">
        <parent link="link_LeftUpLeg_R" />
        <child link="link_LeftUpLeg_P" />
        <axis xyz="0 1 0" />
        <limit effort="100.0000" lower="-3.1415926536" upper="3.1415926536"
            velocity="3.0000" />
        <origin xyz="0 0 0" rpy="0 0 0" />
    </joint>
    <joint name="joint_LeftUpLeg_Y" type="revolute">
        <parent link="link_LeftUpLeg_P" />
        <child link="link_LeftUpLeg_Y" />
        <axis xyz="0 0 1" />
        <limit effort="100.0000" lower="-3.1415926536" upper="3.1415926536"
            velocity="3.0000" />
        <origin xyz="0 0 0" rpy="0 0 0" />
    </joint>
    <joint name="joint_LeftLeg_R" type="revolute">
        <parent link="link_LeftUpLeg_Y" />
        <child link="link_LeftLeg_R" />
        <axis xyz="1 0 0" />
        <limit effort="100.0000" lower="-3.1415926536" upper="3.1415926536"
            velocity="3.0000" />
        <origin rpy="0.0 0.0 0.0" xyz="0.0 0.0 -0.450620" />
    </joint>
    <joint name="joint_LeftLeg_P" type="revolute">
        <parent link="link_LeftLeg_R" />
        <child link="link_LeftLeg_P" />
        <axis xyz="0 1 0" />
        <limit effort="100.0000" lower="-3.1415926536" upper="3.1415926536"
            velocity="3.0000" />
        <origin xyz="0 0 0" rpy="0 0 0" />
    </joint>
    <joint name="joint_LeftLeg_Y" type="revolute">
        <parent link="link_LeftLeg_P" />
        <child link="link_LeftLeg_Y" />
        <axis xyz="0 0 1" />
        <limit effort="100.0000" lower="-3.1415926536" upper="3.1415926536"
            velocity="3.0000" />
        <origin xyz="0 0 0" rpy="0 0 0" />
    </joint>
    <joint name="joint_LeftFoot_R" type="revolute">
        <parent link="link_LeftLeg_Y" />
        <child link="link_LeftFoot_R" />
        <axis xyz="1 0 0" />
        <limit effort="100.0000" lower="-3.1415926536" upper="3.1415926536"
            velocity="3.0000" />
        <origin rpy="0 0 0" xyz="0.0 0.0 -0.420580" />
    </joint>
    <joint name="joint_LeftFoot_P" type="revolute">
        <parent link="link_LeftFoot_R" />
        <child link="link_LeftFoot_P" />
        <axis xyz="0 1 0" />
        <limit effort="100.0000" lower="-3.1415926536" upper="3.1415926536"
            velocity="3.0000" />
        <origin xyz="0 0 0" rpy="0 0 0" />
    </joint>
    <joint name="joint_LeftFoot_Y" type="revolute">
        <parent link="link_LeftFoot_P" />
        <child link="link_LeftFoot_Y" />
        <axis xyz="0 0 1" />
        <limit effort="100.0000" lower="-3.1415926536" upper="3.1415926536"
            velocity="3.0000" />
        <origin xyz="0 0 0" rpy="0 0 0" />
    </joint>
    <joint name="joint_Spine_R" type="revolute">
        <parent link="link_Hips_Y" />
        <child link="link_Spine_R" />
        <axis xyz="1 0 0" />
        <limit effort="100.0000" lower="-3.1415926536" upper="3.1415926536"
            velocity="3.0000" />
        <origin rpy="0.0 0.0 0.0" xyz="0.0 0.0 0.08" />
    </joint>
    <joint name="joint_Spine_P" type="revolute">
        <parent link="link_Spine_R" />
        <child link="link_Spine_P" />
        <axis xyz="0 1 0" />
        <limit effort="100.0000" lower="-3.1415926536" upper="3.1415926536"
            velocity="3.0000" />
        <origin xyz="0 0 0" rpy="0 0 0" />
    </joint>
    <joint name="joint_Spine_Y" type="revolute">
        <parent link="link_Spine_P" />
        <child link="link_Spine_Y" />
        <axis xyz="0 0 1" />
        <limit effort="100.0000" lower="-3.1415926536" upper="3.1415926536"
            velocity="3.0000" />
        <origin xyz="0 0 0" rpy="0 0 0" />
    </joint>
    <joint name="joint_Spine1_R" type="revolute">
        <parent link="link_Spine_Y" />
        <child link="link_Spine1_R" />
        <axis xyz="1 0 0" />
        <limit effort="100.0000" lower="-3.1415926536" upper="3.1415926536"
            velocity="3.0000" />
        <origin rpy="0.0 0.0 0.0" xyz="0.0 0.0 0.08" />
    </joint>
    <joint name="joint_Spine1_P" type="revolute">
        <parent link="link_Spine1_R" />
        <child link="link_Spine1_P" />
        <axis xyz="0 1 0" />
        <limit effort="100.0000" lower="-3.1415926536" upper="3.1415926536"
            velocity="3.0000" />
        <origin xyz="0 0 0" rpy="0 0 0" />
    </joint>
    <joint name="joint_Spine1_Y" type="revolute">
        <parent link="link_Spine1_P" />
        <child link="link_Spine1_Y" />
        <axis xyz="0 0 1" />
        <limit effort="100.0000" lower="-3.1415926536" upper="3.1415926536"
            velocity="3.0000" />
        <origin xyz="0 0 0" rpy="0 0 0" />
    </joint>
    <joint name="joint_Spine2_R" type="revolute">
        <parent link="link_Spine1_Y" />
        <child link="link_Spine2_R" />
        <axis xyz="1 0 0" />
        <limit effort="100.0000" lower="-3.1415926536" upper="3.1415926536"
            velocity="3.0000" />
        <origin rpy="0.0 0.0 0.0" xyz="0.0 0.0 0.127600" />
    </joint>
    <joint name="joint_Spine2_P" type="revolute">
        <parent link="link_Spine2_R" />
        <child link="link_Spine2_P" />
        <axis xyz="0 1 0" />
        <limit effort="100.0000" lower="-3.1415926536" upper="3.1415926536"
            velocity="3.0000" />
        <origin xyz="0 0 0" rpy="0 0 0" />
    </joint>
    <joint name="joint_Spine2_Y" type="revolute">
        <parent link="link_Spine2_P" />
        <child link="link_Spine2_Y" />
        <axis xyz="0 0 1" />
        <limit effort="100.0000" lower="-3.1415926536" upper="3.1415926536"
            velocity="3.0000" />
        <origin xyz="0 0 0" rpy="0 0 0" />
    </joint>
    <joint name="joint_Neck_R" type="revolute">
        <parent link="link_Spine2_Y" />
        <child link="link_Neck_R" />
        <axis xyz="1 0 0" />
        <limit effort="100.0000" lower="-3.1415926536" upper="3.1415926536"
            velocity="3.0000" />
        <origin rpy="0.0 0.0 0.0" xyz="0.0 0.0 0.191400" />
    </joint>
    <joint name="joint_Neck_P" type="revolute">
        <parent link="link_Neck_R" />
        <child link="link_Neck_P" />
        <axis xyz="0 1 0" />
        <limit effort="100.0000" lower="-3.1415926536" upper="3.1415926536"
            velocity="3.0000" />
        <origin xyz="0 0 0" rpy="0 0 0" />
    </joint>
    <joint name="joint_Neck_Y" type="revolute">
        <parent link="link_Neck_P" />
        <child link="link_Neck_Y" />
        <axis xyz="0 0 1" />
        <limit effort="100.0000" lower="-3.1415926536" upper="3.1415926536"
            velocity="3.0000" />
        <origin xyz="0 0 0" rpy="0 0 0" />
    </joint>
    <joint name="joint_Neck1_R" type="revolute">
        <parent link="link_Neck_Y" />
        <child link="link_Neck1_R" />
        <axis xyz="1 0 0" />
        <limit effort="100.0000" lower="-3.1415926536" upper="3.1415926536"
            velocity="3.0000" />
        <origin rpy="0.0 0.0 0.0" xyz="0.0 0.0 0.042500" />
    </joint>
    <joint name="joint_Neck1_P" type="revolute">
        <parent link="link_Neck1_R" />
        <child link="link_Neck1_P" />
        <axis xyz="0 1 0" />
        <limit effort="100.0000" lower="-3.1415926536" upper="3.1415926536"
            velocity="3.0000" />
        <origin xyz="0 0 0" rpy="0 0 0" />
    </joint>
    <joint name="joint_Neck1_Y" type="revolute">
        <parent link="link_Neck1_P" />
        <child link="link_Neck1_Y" />
        <axis xyz="0 0 1" />
        <limit effort="100.0000" lower="-3.1415926536" upper="3.1415926536"
            velocity="3.0000" />
        <origin xyz="0 0 0" rpy="0 0 0" />
    </joint>
    <joint name="joint_Head_R" type="revolute">
        <parent link="link_Neck1_Y" />
        <child link="link_Head_R" />
        <axis xyz="1 0 0" />
        <limit effort="100.0000" lower="-3.1415926536" upper="3.1415926536"
            velocity="3.0000" />
        <origin rpy="0.0 0.0 0.0" xyz="0.0 0.0 0.042500" />
    </joint>
    <joint name="joint_Head_P" type="revolute">
        <parent link="link_Head_R" />
        <child link="link_Head_P" />
        <axis xyz="0 1 0" />
        <limit effort="100.0000" lower="-3.1415926536" upper="3.1415926536"
            velocity="3.0000" />
        <origin xyz="0 0 0" rpy="0 0 0" />
    </joint>
    <joint name="joint_Head_Y" type="revolute">
        <parent link="link_Head_P" />
        <child link="link_Head_Y" />
        <axis xyz="0 0 1" />
        <limit effort="100.0000" lower="-3.1415926536" upper="3.1415926536"
            velocity="3.0000" />
        <origin xyz="0 0 0" rpy="0 0 0" />
    </joint>
    <joint name="joint_RightShoulder_R" type="revolute">
        <parent link="link_Spine2_Y" />
        <child link="link_RightShoulder_R" />
        <axis xyz="1 0 0" />
        <limit effort="100.0000" lower="-3.1415926536" upper="3.1415926536"
            velocity="3.0000" />
        <origin rpy="0.0 0.0 0" xyz="0.029000 0.0 0.133400" />
    </joint>
    <joint name="joint_RightShoulder_P" type="revolute">
        <parent link="link_RightShoulder_R" />
        <child link="link_RightShoulder_P" />
        <axis xyz="0 1 0" />
        <limit effort="100.0000" lower="-3.1415926536" upper="3.1415926536"
            velocity="3.0000" />
        <origin xyz="0 0 0" rpy="0 0 0" />
    </joint>
    <joint name="joint_RightShoulder_Y" type="revolute">
        <parent link="link_RightShoulder_P" />
        <child link="link_RightShoulder_Y" />
        <axis xyz="0 0 1" />
        <limit effort="100.0000" lower="-3.1415926536" upper="3.1415926536"
            velocity="3.0000" />
        <origin xyz="0 0 0" rpy="0 0 0" />
    </joint>
    <joint name="joint_RightArm_R" type="revolute">
        <parent link="link_RightShoulder_Y" />
        <child link="link_RightArm_R" />
        <axis xyz="1 0 0" />
        <limit effort="100.0000" lower="-3.1415926536" upper="3.1415926536"
            velocity="3.0000" />
        <origin rpy="0.0 0.0 0.0" xyz="0.161000 0.0 0.0" />
    </joint>
    <joint name="joint_RightArm_P" type="revolute">
        <parent link="link_RightArm_R" />
        <child link="link_RightArm_P" />
        <axis xyz="0 1 0" />
        <limit effort="100.0000" lower="-3.1415926536" upper="3.1415926536"
            velocity="3.0000" />
        <origin xyz="0 0 0" rpy="0 0 0" />
    </joint>
    <joint name="joint_RightArm_Y" type="revolute">
        <parent link="link_RightArm_P" />
        <child link="link_RightArm_Y" />
        <axis xyz="0 0 1" />
        <limit effort="100.0000" lower="-3.1415926536" upper="3.1415926536"
            velocity="3.0000" />
        <origin xyz="0 0 0" rpy="0 0 0" />
    </joint>
    <joint name="joint_RightForeArm_R" type="revolute">
        <parent link="link_RightArm_Y" />
        <child link="link_RightForeArm_R" />
        <axis xyz="1 0 0" />
        <limit effort="100.0000" lower="-3.1415926536" upper="3.1415926536"
            velocity="3.0000" />
        <origin rpy="0.0 0.0 0.0" xyz="0.0 0.0 -0.280000" />
    </joint>
    <joint name="joint_RightForeArm_P" type="revolute">
        <parent link="link_RightForeArm_R" />
        <child link="link_RightForeArm_P" />
        <axis xyz="0 1 0" />
        <limit effort="100.0000" lower="-3.1415926536" upper="3.1415926536"
            velocity="3.0000" />
        <origin xyz="0 0 0" rpy="0 0 0" />
    </joint>
    <joint name="joint_RightForeArm_Y" type="revolute">
        <parent link="link_RightForeArm_P" />
        <child link="link_RightForeArm_Y" />
        <axis xyz="0 0 1" />
        <limit effort="100.0000" lower="-3.1415926536" upper="3.1415926536"
            velocity="3.0000" />
        <origin xyz="0 0 0" rpy="0 0 0" />
    </joint>
    <joint name="joint_RightHand_R" type="revolute">
        <parent link="link_RightForeArm_Y" />
        <child link="link_RightHand_R" />
        <axis xyz="1 0 0" />
        <limit effort="100.0000" lower="-3.1415926536" upper="3.1415926536"
            velocity="3.0000" />
        <origin rpy="0 0 0" xyz="0.0 0.0 -0.260000" />
    </joint>
    <joint name="joint_RightHand_P" type="revolute">
        <parent link="link_RightHand_R" />
        <child link="link_RightHand_P" />
        <axis xyz="0 1 0" />
        <limit effort="100.0000" lower="-3.1415926536" upper="3.1415926536"
            velocity="3.0000" />
        <origin xyz="0 0 0" rpy="0 0 0" />
    </joint>
    <joint name="joint_RightHand_Y" type="revolute">
        <parent link="link_RightHand_P" />
        <child link="link_RightHand_Y" />
        <axis xyz="0 0 1" />
        <limit effort="100.0000" lower="-3.1415926536" upper="3.1415926536"
            velocity="3.0000" />
        <origin xyz="0 0 0" rpy="0 0 0" />
    </joint>
    <joint name="joint_RightHandThumb1_R" type="revolute">
        <parent link="link_RightHand_Y" />
        <child link="link_RightHandThumb1_R" />
        <axis xyz="1 0 0" />
        <limit effort="100.0000" lower="-3.1415926536" upper="3.1415926536"
            velocity="3.0000" />
        <origin rpy="0 0 0" xyz="-0.002290 0.020847 -0.024347" />
    </joint>
    <joint name="joint_RightHandThumb1_P" type="revolute">
        <parent link="link_RightHandThumb1_R" />
        <child link="link_RightHandThumb1_P" />
        <axis xyz="0 1 0" />
        <limit effort="100.0000" lower="-3.1415926536" upper="3.1415926536"
            velocity="3.0000" />
        <origin xyz="0 0 0" rpy="0 0 0" />
    </joint>
    <joint name="joint_RightHandThumb1_Y" type="revolute">
        <parent link="link_RightHandThumb1_P" />
        <child link="link_RightHandThumb1_Y" />
        <axis xyz="0 0 1" />
        <limit effort="100.0000" lower="-3.1415926536" upper="3.1415926536"
            velocity="3.0000" />
        <origin xyz="0 0 0" rpy="0 0 0" />
    </joint>
    <joint name="joint_RightHandThumb2_R" type="revolute">
        <parent link="link_RightHandThumb1_Y" />
        <child link="link_RightHandThumb2_R" />
        <axis xyz="1 0 0" />
        <limit effort="100.0000" lower="-3.1415926536" upper="3.1415926536"
            velocity="3.0000" />
        <origin rpy="0 0 0" xyz="0.0 0.0 -0.038720" />
    </joint>
    <joint name="joint_RightHandThumb2_P" type="revolute">
        <parent link="link_RightHandThumb2_R" />
        <child link="link_RightHandThumb2_P" />
        <axis xyz="0 1 0" />
        <limit effort="100.0000" lower="-3.1415926536" upper="3.1415926536"
            velocity="3.0000" />
        <origin xyz="0 0 0" rpy="0 0 0" />
    </joint>
    <joint name="joint_RightHandThumb2_Y" type="revolute">
        <parent link="link_RightHandThumb2_P" />
        <child link="link_RightHandThumb2_Y" />
        <axis xyz="0 0 1" />
        <limit effort="100.0000" lower="-3.1415926536" upper="3.1415926536"
            velocity="3.0000" />
        <origin xyz="0 0 0" rpy="0 0 0" />
    </joint>
    <joint name="joint_RightHandThumb3_R" type="revolute">
        <parent link="link_RightHandThumb2_Y" />
        <child link="link_RightHandThumb3_R" />
        <axis xyz="1 0 0" />
        <limit effort="100.0000" lower="-3.1415926536" upper="3.1415926536"
            velocity="3.0000" />
        <origin rpy="0 0 0" xyz="0.0 0.0 -0.026900" />
    </joint>
    <joint name="joint_RightHandThumb3_P" type="revolute">
        <parent link="link_RightHandThumb3_R" />
        <child link="link_RightHandThumb3_P" />
        <axis xyz="0 1 0" />
        <limit effort="100.0000" lower="-3.1415926536" upper="3.1415926536"
            velocity="3.0000" />
        <origin xyz="0 0 0" rpy="0 0 0" />
    </joint>
    <joint name="joint_RightHandThumb3_Y" type="revolute">
        <parent link="link_RightHandThumb3_P" />
        <child link="link_RightHandThumb3_Y" />
        <axis xyz="0 0 1" />
        <limit effort="100.0000" lower="-3.1415926536" upper="3.1415926536"
            velocity="3.0000" />
        <origin xyz="0 0 0" rpy="0 0 0" />
    </joint>
    <joint name="joint_RightInHandIndex_R" type="revolute">
        <parent link="link_RightHand_Y" />
        <child link="link_RightInHandIndex_R" />
        <axis xyz="1 0 0" />
        <limit effort="100.0000" lower="-3.1415926536" upper="3.1415926536"
            velocity="3.0000" />
        <origin rpy="0 0 0" xyz="0.004337 0.011103 -0.038311" />
    </joint>
    <joint name="joint_RightInHandIndex_P" type="revolute">
        <parent link="link_RightInHandIndex_R" />
        <child link="link_RightInHandIndex_P" />
        <axis xyz="0 1 0" />
        <limit effort="100.0000" lower="-3.1415926536" upper="3.1415926536"
            velocity="3.0000" />
        <origin xyz="0 0 0" rpy="0 0 0" />
    </joint>
    <joint name="joint_RightInHandIndex_Y" type="revolute">
        <parent link="link_RightInHandIndex_P" />
        <child link="link_RightInHandIndex_Y" />
        <axis xyz="0 0 1" />
        <limit effort="100.0000" lower="-3.1415926536" upper="3.1415926536"
            velocity="3.0000" />
        <origin xyz="0 0 0" rpy="0 0 0" />
    </joint>
    <joint name="joint_RightHandIndex1_R" type="revolute">
        <parent link="link_RightInHandIndex_Y" />
        <child link="link_RightHandIndex1_R" />
        <axis xyz="1 0 0" />
        <limit effort="100.0000" lower="-3.1415926536" upper="3.1415926536"
            velocity="3.0000" />
        <origin rpy="0 0 0" xyz="0.0 -0.0 -0.055856" />
    </joint>
    <joint name="joint_RightHandIndex1_P" type="revolute">
        <parent link="link_RightHandIndex1_R" />
        <child link="link_RightHandIndex1_P" />
        <axis xyz="0 1 0" />
        <limit effort="100.0000" lower="-3.1415926536" upper="3.1415926536"
            velocity="3.0000" />
        <origin xyz="0 0 0" rpy="0 0 0" />
    </joint>
    <joint name="joint_RightHandIndex1_Y" type="revolute">
        <parent link="link_RightHandIndex1_P" />
        <child link="link_RightHandIndex1_Y" />
        <axis xyz="0 0 1" />
        <limit effort="100.0000" lower="-3.1415926536" upper="3.1415926536"
            velocity="3.0000" />
        <origin xyz="0 0 0" rpy="0 0 0" />
    </joint>
    <joint name="joint_RightHandIndex2_R" type="revolute">
        <parent link="link_RightHandIndex1_Y" />
        <child link="link_RightHandIndex2_R" />
        <axis xyz="1 0 0" />
        <limit effort="100.0000" lower="-3.1415926536" upper="3.1415926536"
            velocity="3.0000" />
        <origin rpy="0.0 0.0 -0.0" xyz="0.0 -0.0 -0.038060" />
    </joint>
    <joint name="joint_RightHandIndex2_P" type="revolute">
        <parent link="link_RightHandIndex2_R" />
        <child link="link_RightHandIndex2_P" />
        <axis xyz="0 1 0" />
        <limit effort="100.0000" lower="-3.1415926536" upper="3.1415926536"
            velocity="3.0000" />
        <origin xyz="0 0 0" rpy="0 0 0" />
    </joint>
    <joint name="joint_RightHandIndex2_Y" type="revolute">
        <parent link="link_RightHandIndex2_P" />
        <child link="link_RightHandIndex2_Y" />
        <axis xyz="0 0 1" />
        <limit effort="100.0000" lower="-3.1415926536" upper="3.1415926536"
            velocity="3.0000" />
        <origin xyz="0 0 0" rpy="0 0 0" />
    </joint>
    <joint name="joint_RightHandIndex3_R" type="revolute">
        <parent link="link_RightHandIndex2_Y" />
        <child link="link_RightHandIndex3_R" />
        <axis xyz="1 0 0" />
        <limit effort="100.0000" lower="-3.1415926536" upper="3.1415926536"
            velocity="3.0000" />
        <origin rpy="0.0 0.0 0.0" xyz="0.0 -0.0 -0.021580" />
    </joint>
    <joint name="joint_RightHandIndex3_P" type="revolute">
        <parent link="link_RightHandIndex3_R" />
        <child link="link_RightHandIndex3_P" />
        <axis xyz="0 1 0" />
        <limit effort="100.0000" lower="-3.1415926536" upper="3.1415926536"
            velocity="3.0000" />
        <origin xyz="0 0 0" rpy="0 0 0" />
    </joint>
    <joint name="joint_RightHandIndex3_Y" type="revolute">
        <parent link="link_RightHandIndex3_P" />
        <child link="link_RightHandIndex3_Y" />
        <axis xyz="0 0 1" />
        <limit effort="100.0000" lower="-3.1415926536" upper="3.1415926536"
            velocity="3.0000" />
        <origin xyz="0 0 0" rpy="0 0 0" />
    </joint>
    <joint name="joint_RightInHandMiddle_R" type="revolute">
        <parent link="link_RightHand_Y" />
        <child link="link_RightInHandMiddle_R" />
        <axis xyz="1 0 0" />
        <limit effort="100.0000" lower="-3.1415926536" upper="3.1415926536"
            velocity="3.0000" />
        <origin rpy="0 0 0" xyz="0.001414 -0.001419 -0.036789" />
    </joint>
    <joint name="joint_RightInHandMiddle_P" type="revolute">
        <parent link="link_RightInHandMiddle_R" />
        <child link="link_RightInHandMiddle_P" />
        <axis xyz="0 1 0" />
        <limit effort="100.0000" lower="-3.1415926536" upper="3.1415926536"
            velocity="3.0000" />
        <origin xyz="0 0 0" rpy="0 0 0" />
    </joint>
    <joint name="joint_RightInHandMiddle_Y" type="revolute">
        <parent link="link_RightInHandMiddle_P" />
        <child link="link_RightInHandMiddle_Y" />
        <axis xyz="0 0 1" />
        <limit effort="100.0000" lower="-3.1415926536" upper="3.1415926536"
            velocity="3.0000" />
        <origin xyz="0 0 0" rpy="0 0 0" />
    </joint>
    <joint name="joint_RightHandMiddle1_R" type="revolute">
        <parent link="link_RightInHandMiddle_Y" />
        <child link="link_RightHandMiddle1_R" />
        <axis xyz="1 0 0" />
        <limit effort="100.0000" lower="-3.1415926536" upper="3.1415926536"
            velocity="3.0000" />
        <origin rpy="0 0 0" xyz="0.0 0.0 -0.054517" />
    </joint>
    <joint name="joint_RightHandMiddle1_P" type="revolute">
        <parent link="link_RightHandMiddle1_R" />
        <child link="link_RightHandMiddle1_P" />
        <axis xyz="0 1 0" />
        <limit effort="100.0000" lower="-3.1415926536" upper="3.1415926536"
            velocity="3.0000" />
        <origin xyz="0 0 0" rpy="0 0 0" />
    </joint>
    <joint name="joint_RightHandMiddle1_Y" type="revolute">
        <parent link="link_RightHandMiddle1_P" />
        <child link="link_RightHandMiddle1_Y" />
        <axis xyz="0 0 1" />
        <limit effort="100.0000" lower="-3.1415926536" upper="3.1415926536"
            velocity="3.0000" />
        <origin xyz="0 0 0" rpy="0 0 0" />
    </joint>
    <joint name="joint_RightHandMiddle2_R" type="revolute">
        <parent link="link_RightHandMiddle1_Y" />
        <child link="link_RightHandMiddle2_R" />
        <axis xyz="1 0 0" />
        <limit effort="100.0000" lower="-3.1415926536" upper="3.1415926536"
            velocity="3.0000" />
        <origin rpy="0.0 0.0 0.0" xyz="0.0 -0.0 -0.041530" />
    </joint>
    <joint name="joint_RightHandMiddle2_P" type="revolute">
        <parent link="link_RightHandMiddle2_R" />
        <child link="link_RightHandMiddle2_P" />
        <axis xyz="0 1 0" />
        <limit effort="100.0000" lower="-3.1415926536" upper="3.1415926536"
            velocity="3.0000" />
        <origin xyz="0 0 0" rpy="0 0 0" />
    </joint>
    <joint name="joint_RightHandMiddle2_Y" type="revolute">
        <parent link="link_RightHandMiddle2_P" />
        <child link="link_RightHandMiddle2_Y" />
        <axis xyz="0 0 1" />
        <limit effort="100.0000" lower="-3.1415926536" upper="3.1415926536"
            velocity="3.0000" />
        <origin xyz="0 0 0" rpy="0 0 0" />
    </joint>
    <joint name="joint_RightHandMiddle3_R" type="revolute">
        <parent link="link_RightHandMiddle2_Y" />
        <child link="link_RightHandMiddle3_R" />
        <axis xyz="1 0 0" />
        <limit effort="100.0000" lower="-3.1415926536" upper="3.1415926536"
            velocity="3.0000" />
        <origin rpy="0.0 0.0 0.0" xyz="0.0 -0.0 -0.026030" />
    </joint>
    <joint name="joint_RightHandMiddle3_P" type="revolute">
        <parent link="link_RightHandMiddle3_R" />
        <child link="link_RightHandMiddle3_P" />
        <axis xyz="0 1 0" />
        <limit effort="100.0000" lower="-3.1415926536" upper="3.1415926536"
            velocity="3.0000" />
        <origin xyz="0 0 0" rpy="0 0 0" />
    </joint>
    <joint name="joint_RightHandMiddle3_Y" type="revolute">
        <parent link="link_RightHandMiddle3_P" />
        <child link="link_RightHandMiddle3_Y" />
        <axis xyz="0 0 1" />
        <limit effort="100.0000" lower="-3.1415926536" upper="3.1415926536"
            velocity="3.0000" />
        <origin xyz="0 0 0" rpy="0 0 0" />
    </joint>
    <joint name="joint_RightInHandRing_R" type="revolute">
        <parent link="link_RightHand_Y" />
        <child link="link_RightInHandRing_R" />
        <axis xyz="1 0 0" />
        <limit effort="100.0000" lower="-3.1415926536" upper="3.1415926536"
            velocity="3.0000" />
        <origin rpy="0 0 0" xyz="-0.000343 -0.010250 -0.034368" />
    </joint>
    <joint name="joint_RightInHandRing_P" type="revolute">
        <parent link="link_RightInHandRing_R" />
        <child link="link_RightInHandRing_P" />
        <axis xyz="0 1 0" />
        <limit effort="100.0000" lower="-3.1415926536" upper="3.1415926536"
            velocity="3.0000" />
        <origin xyz="0 0 0" rpy="0 0 0" />
    </joint>
    <joint name="joint_RightInHandRing_Y" type="revolute">
        <parent link="link_RightInHandRing_P" />
        <child link="link_RightInHandRing_Y" />
        <axis xyz="0 0 1" />
        <limit effort="100.0000" lower="-3.1415926536" upper="3.1415926536"
            velocity="3.0000" />
        <origin xyz="0 0 0" rpy="0 0 0" />
    </joint>
    <joint name="joint_RightHandRing1_R" type="revolute">
        <parent link="link_RightInHandRing_Y" />
        <child link="link_RightHandRing1_R" />
        <axis xyz="1 0 0" />
        <limit effort="100.0000" lower="-3.1415926536" upper="3.1415926536"
            velocity="3.0000" />
        <origin rpy="0 0 0" xyz="0.0 0.0 -0.048991" />
    </joint>
    <joint name="joint_RightHandRing1_P" type="revolute">
        <parent link="link_RightHandRing1_R" />
        <child link="link_RightHandRing1_P" />
        <axis xyz="0 1 0" />
        <limit effort="100.0000" lower="-3.1415926536" upper="3.1415926536"
            velocity="3.0000" />
        <origin xyz="0 0 0" rpy="0 0 0" />
    </joint>
    <joint name="joint_RightHandRing1_Y" type="revolute">
        <parent link="link_RightHandRing1_P" />
        <child link="link_RightHandRing1_Y" />
        <axis xyz="0 0 1" />
        <limit effort="100.0000" lower="-3.1415926536" upper="3.1415926536"
            velocity="3.0000" />
        <origin xyz="0 0 0" rpy="0 0 0" />
    </joint>
    <joint name="joint_RightHandRing2_R" type="revolute">
        <parent link="link_RightHandRing1_Y" />
        <child link="link_RightHandRing2_R" />
        <axis xyz="1 0 0" />
        <limit effort="100.0000" lower="-3.1415926536" upper="3.1415926536"
            velocity="3.0000" />
        <origin rpy="0.0 0.0 0.0" xyz="0.0 -0.0 -0.036190" />
    </joint>
    <joint name="joint_RightHandRing2_P" type="revolute">
        <parent link="link_RightHandRing2_R" />
        <child link="link_RightHandRing2_P" />
        <axis xyz="0 1 0" />
        <limit effort="100.0000" lower="-3.1415926536" upper="3.1415926536"
            velocity="3.0000" />
        <origin xyz="0 0 0" rpy="0 0 0" />
    </joint>
    <joint name="joint_RightHandRing2_Y" type="revolute">
        <parent link="link_RightHandRing2_P" />
        <child link="link_RightHandRing2_Y" />
        <axis xyz="0 0 1" />
        <limit effort="100.0000" lower="-3.1415926536" upper="3.1415926536"
            velocity="3.0000" />
        <origin xyz="0 0 0" rpy="0 0 0" />
    </joint>
    <joint name="joint_RightHandRing3_R" type="revolute">
        <parent link="link_RightHandRing2_Y" />
        <child link="link_RightHandRing3_R" />
        <axis xyz="1 0 0" />
        <limit effort="100.0000" lower="-3.1415926536" upper="3.1415926536"
            velocity="3.0000" />
        <origin rpy="0.0 0.0 0.0" xyz="0.0 -0.0 -0.025110" />
    </joint>
    <joint name="joint_RightHandRing3_P" type="revolute">
        <parent link="link_RightHandRing3_R" />
        <child link="link_RightHandRing3_P" />
        <axis xyz="0 1 0" />
        <limit effort="100.0000" lower="-3.1415926536" upper="3.1415926536"
            velocity="3.0000" />
        <origin xyz="0 0 0" rpy="0 0 0" />
    </joint>
    <joint name="joint_RightHandRing3_Y" type="revolute">
        <parent link="link_RightHandRing3_P" />
        <child link="link_RightHandRing3_Y" />
        <axis xyz="0 0 1" />
        <limit effort="100.0000" lower="-3.1415926536" upper="3.1415926536"
            velocity="3.0000" />
        <origin xyz="0 0 0" rpy="0 0 0" />
    </joint>
    <joint name="joint_RightInHandPinky_R" type="revolute">
        <parent link="link_RightHand_Y" />
        <child link="link_RightInHandPinky_R" />
        <axis xyz="1 0 0" />
        <limit effort="100.0000" lower="-3.1415926536" upper="3.1415926536"
            velocity="3.0000" />
        <origin rpy="0 0 0" xyz="-0.003119 -0.020281 -0.029462" />
    </joint>
    <joint name="joint_RightInHandPinky_P" type="revolute">
        <parent link="link_RightInHandPinky_R" />
        <child link="link_RightInHandPinky_P" />
        <axis xyz="0 1 0" />
        <limit effort="100.0000" lower="-3.1415926536" upper="3.1415926536"
            velocity="3.0000" />
        <origin xyz="0 0 0" rpy="0 0 0" />
    </joint>
    <joint name="joint_RightInHandPinky_Y" type="revolute">
        <parent link="link_RightInHandPinky_P" />
        <child link="link_RightInHandPinky_Y" />
        <axis xyz="0 0 1" />
        <limit effort="100.0000" lower="-3.1415926536" upper="3.1415926536"
            velocity="3.0000" />
        <origin xyz="0 0 0" rpy="0 0 0" />
    </joint>
    <joint name="joint_RightHandPinky1_R" type="revolute">
        <parent link="link_RightInHandPinky_Y" />
        <child link="link_RightHandPinky1_R" />
        <axis xyz="1 0 0" />
        <limit effort="100.0000" lower="-3.1415926536" upper="3.1415926536"
            velocity="3.0000" />
        <origin rpy="0 0 0" xyz="0.0 0.0 -0.045026" />
    </joint>
    <joint name="joint_RightHandPinky1_P" type="revolute">
        <parent link="link_RightHandPinky1_R" />
        <child link="link_RightHandPinky1_P" />
        <axis xyz="0 1 0" />
        <limit effort="100.0000" lower="-3.1415926536" upper="3.1415926536"
            velocity="3.0000" />
        <origin xyz="0 0 0" rpy="0 0 0" />
    </joint>
    <joint name="joint_RightHandPinky1_Y" type="revolute">
        <parent link="link_RightHandPinky1_P" />
        <child link="link_RightHandPinky1_Y" />
        <axis xyz="0 0 1" />
        <limit effort="100.0000" lower="-3.1415926536" upper="3.1415926536"
            velocity="3.0000" />
        <origin xyz="0 0 0" rpy="0 0 0" />
    </joint>
    <joint name="joint_RightHandPinky2_R" type="revolute">
        <parent link="link_RightHandPinky1_Y" />
        <child link="link_RightHandPinky2_R" />
        <axis xyz="1 0 0" />
        <limit effort="100.0000" lower="-3.1415926536" upper="3.1415926536"
            velocity="3.0000" />
        <origin rpy="0.0 0.0 -0.0" xyz="0.0 -0.0 -0.028980" />
    </joint>
    <joint name="joint_RightHandPinky2_P" type="revolute">
        <parent link="link_RightHandPinky2_R" />
        <child link="link_RightHandPinky2_P" />
        <axis xyz="0 1 0" />
        <limit effort="100.0000" lower="-3.1415926536" upper="3.1415926536"
            velocity="3.0000" />
        <origin xyz="0 0 0" rpy="0 0 0" />
    </joint>
    <joint name="joint_RightHandPinky2_Y" type="revolute">
        <parent link="link_RightHandPinky2_P" />
        <child link="link_RightHandPinky2_Y" />
        <axis xyz="0 0 1" />
        <limit effort="100.0000" lower="-3.1415926536" upper="3.1415926536"
            velocity="3.0000" />
        <origin xyz="0 0 0" rpy="0 0 0" />
    </joint>
    <joint name="joint_RightHandPinky3_R" type="revolute">
        <parent link="link_RightHandPinky2_Y" />
        <child link="link_RightHandPinky3_R" />
        <axis xyz="1 0 0" />
        <limit effort="100.0000" lower="-3.1415926536" upper="3.1415926536"
            velocity="3.0000" />
        <origin rpy="0.0 0.0 0.0" xyz="0.0 -0.0 -0.018310" />
    </joint>
    <joint name="joint_RightHandPinky3_P" type="revolute">
        <parent link="link_RightHandPinky3_R" />
        <child link="link_RightHandPinky3_P" />
        <axis xyz="0 1 0" />
        <limit effort="100.0000" lower="-3.1415926536" upper="3.1415926536"
            velocity="3.0000" />
        <origin xyz="0 0 0" rpy="0 0 0" />
    </joint>
    <joint name="joint_RightHandPinky3_Y" type="revolute">
        <parent link="link_RightHandPinky3_P" />
        <child link="link_RightHandPinky3_Y" />
        <axis xyz="0 0 1" />
        <limit effort="100.0000" lower="-3.1415926536" upper="3.1415926536"
            velocity="3.0000" />
        <origin xyz="0 0 0" rpy="0 0 0" />
    </joint>
    <joint name="joint_LeftShoulder_R" type="revolute">
        <parent link="link_Spine2_Y" />
        <child link="link_LeftShoulder_R" />
        <axis xyz="1 0 0" />
        <limit effort="100.0000" lower="-3.1415926536" upper="3.1415926536"
            velocity="3.0000" />
        <origin rpy="0.0 0.0 0" xyz="-0.029000 0.0 0.133400" />
    </joint>
    <joint name="joint_LeftShoulder_P" type="revolute">
        <parent link="link_LeftShoulder_R" />
        <child link="link_LeftShoulder_P" />
        <axis xyz="0 1 0" />
        <limit effort="100.0000" lower="-3.1415926536" upper="3.1415926536"
            velocity="3.0000" />
        <origin xyz="0 0 0" rpy="0 0 0" />
    </joint>
    <joint name="joint_LeftShoulder_Y" type="revolute">
        <parent link="link_LeftShoulder_P" />
        <child link="link_LeftShoulder_Y" />
        <axis xyz="0 0 1" />
        <limit effort="100.0000" lower="-3.1415926536" upper="3.1415926536"
            velocity="3.0000" />
        <origin xyz="0 0 0" rpy="0 0 0" />
    </joint>
    <joint name="joint_LeftArm_R" type="revolute">
        <parent link="link_LeftShoulder_Y" />
        <child link="link_LeftArm_R" />
        <axis xyz="1 0 0" />
        <limit effort="100.0000" lower="-3.1415926536" upper="3.1415926536"
            velocity="3.0000" />
        <origin rpy="0.0 0.0 0.0" xyz="-0.161000 0.0 0.0" />
    </joint>
    <joint name="joint_LeftArm_P" type="revolute">
        <parent link="link_LeftArm_R" />
        <child link="link_LeftArm_P" />
        <axis xyz="0 1 0" />
        <limit effort="100.0000" lower="-3.1415926536" upper="3.1415926536"
            velocity="3.0000" />
        <origin xyz="0 0 0" rpy="0 0 0" />
    </joint>
    <joint name="joint_LeftArm_Y" type="revolute">
        <parent link="link_LeftArm_P" />
        <child link="link_LeftArm_Y" />
        <axis xyz="0 0 1" />
        <limit effort="100.0000" lower="-3.1415926536" upper="3.1415926536"
            velocity="3.0000" />
        <origin xyz="0 0 0" rpy="0 0 0" />
    </joint>
    <joint name="joint_LeftForeArm_R" type="revolute">
        <parent link="link_LeftArm_Y" />
        <child link="link_LeftForeArm_R" />
        <axis xyz="1 0 0" />
        <limit effort="100.0000" lower="-3.1415926536" upper="3.1415926536"
            velocity="3.0000" />
        <origin rpy="0.0 0.0 0.0" xyz="0.0 0.0 -0.280000" />
    </joint>
    <joint name="joint_LeftForeArm_P" type="revolute">
        <parent link="link_LeftForeArm_R" />
        <child link="link_LeftForeArm_P" />
        <axis xyz="0 1 0" />
        <limit effort="100.0000" lower="-3.1415926536" upper="3.1415926536"
            velocity="3.0000" />
        <origin xyz="0 0 0" rpy="0 0 0" />
    </joint>
    <joint name="joint_LeftForeArm_Y" type="revolute">
        <parent link="link_LeftForeArm_P" />
        <child link="link_LeftForeArm_Y" />
        <axis xyz="0 0 1" />
        <limit effort="100.0000" lower="-3.1415926536" upper="3.1415926536"
            velocity="3.0000" />
        <origin xyz="0 0 0" rpy="0 0 0" />
    </joint>
    <joint name="joint_LeftHand_R" type="revolute">
        <parent link="link_LeftForeArm_Y" />
        <child link="link_LeftHand_R" />
        <axis xyz="1 0 0" />
        <limit effort="100.0000" lower="-3.1415926536" upper="3.1415926536"
            velocity="3.0000" />
        <origin rpy="0 0 0" xyz="0.0 0.0 -0.260000" />
    </joint>
    <joint name="joint_LeftHand_P" type="revolute">
        <parent link="link_LeftHand_R" />
        <child link="link_LeftHand_P" />
        <axis xyz="0 1 0" />
        <limit effort="100.0000" lower="-3.1415926536" upper="3.1415926536"
            velocity="3.0000" />
        <origin xyz="0 0 0" rpy="0 0 0" />
    </joint>
    <joint name="joint_LeftHand_Y" type="revolute">
        <parent link="link_LeftHand_P" />
        <child link="link_LeftHand_Y" />
        <axis xyz="0 0 1" />
        <limit effort="100.0000" lower="-3.1415926536" upper="3.1415926536"
            velocity="3.0000" />
        <origin xyz="0 0 0" rpy="0 0 0" />
    </joint>
    <joint name="joint_LeftHandThumb1_R" type="revolute">
        <parent link="link_LeftHand_Y" />
        <child link="link_LeftHandThumb1_R" />
        <axis xyz="1 0 0" />
        <limit effort="100.0000" lower="-3.1415926536" upper="3.1415926536"
            velocity="3.0000" />
        <origin rpy="0 0 0" xyz="0.002290  0.020847 -0.024347" />
    </joint>
    <joint name="joint_LeftHandThumb1_P" type="revolute">
        <parent link="link_LeftHandThumb1_R" />
        <child link="link_LeftHandThumb1_P" />
        <axis xyz="0 1 0" />
        <limit effort="100.0000" lower="-3.1415926536" upper="3.1415926536"
            velocity="3.0000" />
        <origin xyz="0 0 0" rpy="0 0 0" />
    </joint>
    <joint name="joint_LeftHandThumb1_Y" type="revolute">
        <parent link="link_LeftHandThumb1_P" />
        <child link="link_LeftHandThumb1_Y" />
        <axis xyz="0 0 1" />
        <limit effort="100.0000" lower="-3.1415926536" upper="3.1415926536"
            velocity="3.0000" />
        <origin xyz="0 0 0" rpy="0 0 0" />
    </joint>
    <joint name="joint_LeftHandThumb2_R" type="revolute">
        <parent link="link_LeftHandThumb1_Y" />
        <child link="link_LeftHandThumb2_R" />
        <axis xyz="1 0 0" />
        <limit effort="100.0000" lower="-3.1415926536" upper="3.1415926536"
            velocity="3.0000" />
        <origin rpy="0.0 0.0 0.0" xyz="0.0 0.0 -0.038720" />
    </joint>
    <joint name="joint_LeftHandThumb2_P" type="revolute">
        <parent link="link_LeftHandThumb2_R" />
        <child link="link_LeftHandThumb2_P" />
        <axis xyz="0 1 0" />
        <limit effort="100.0000" lower="-3.1415926536" upper="3.1415926536"
            velocity="3.0000" />
        <origin xyz="0 0 0" rpy="0 0 0" />
    </joint>
    <joint name="joint_LeftHandThumb2_Y" type="revolute">
        <parent link="link_LeftHandThumb2_P" />
        <child link="link_LeftHandThumb2_Y" />
        <axis xyz="0 0 1" />
        <limit effort="100.0000" lower="-3.1415926536" upper="3.1415926536"
            velocity="3.0000" />
        <origin xyz="0 0 0" rpy="0 0 0" />
    </joint>
    <joint name="joint_LeftHandThumb3_R" type="revolute">
        <parent link="link_LeftHandThumb2_Y" />
        <child link="link_LeftHandThumb3_R" />
        <axis xyz="1 0 0" />
        <limit effort="100.0000" lower="-3.1415926536" upper="3.1415926536"
            velocity="3.0000" />
        <origin rpy="0.0 0.0 0.0" xyz="0.0 0.0 -0.026900" />
    </joint>
    <joint name="joint_LeftHandThumb3_P" type="revolute">
        <parent link="link_LeftHandThumb3_R" />
        <child link="link_LeftHandThumb3_P" />
        <axis xyz="0 1 0" />
        <limit effort="100.0000" lower="-3.1415926536" upper="3.1415926536"
            velocity="3.0000" />
        <origin xyz="0 0 0" rpy="0 0 0" />
    </joint>
    <joint name="joint_LeftHandThumb3_Y" type="revolute">
        <parent link="link_LeftHandThumb3_P" />
        <child link="link_LeftHandThumb3_Y" />
        <axis xyz="0 0 1" />
        <limit effort="100.0000" lower="-3.1415926536" upper="3.1415926536"
            velocity="3.0000" />
        <origin xyz="0 0 0" rpy="0 0 0" />
    </joint>
    <joint name="joint_LeftInHandIndex_R" type="revolute">
        <parent link="link_LeftHand_Y" />
        <child link="link_LeftInHandIndex_R" />
        <axis xyz="1 0 0" />
        <limit effort="100.0000" lower="-3.1415926536" upper="3.1415926536"
            velocity="3.0000" />
        <origin rpy="0 0 0" xyz="0.004337 0.011103 -0.038311" />
    </joint>
    <joint name="joint_LeftInHandIndex_P" type="revolute">
        <parent link="link_LeftInHandIndex_R" />
        <child link="link_LeftInHandIndex_P" />
        <axis xyz="0 1 0" />
        <limit effort="100.0000" lower="-3.1415926536" upper="3.1415926536"
            velocity="3.0000" />
        <origin xyz="0 0 0" rpy="0 0 0" />
    </joint>
    <joint name="joint_LeftInHandIndex_Y" type="revolute">
        <parent link="link_LeftInHandIndex_P" />
        <child link="link_LeftInHandIndex_Y" />
        <axis xyz="0 0 1" />
        <limit effort="100.0000" lower="-3.1415926536" upper="3.1415926536"
            velocity="3.0000" />
        <origin xyz="0 0 0" rpy="0 0 0" />
    </joint>
    <joint name="joint_LeftHandIndex1_R" type="revolute">
        <parent link="link_LeftInHandIndex_Y" />
        <child link="link_LeftHandIndex1_R" />
        <axis xyz="1 0 0" />
        <limit effort="100.0000" lower="-3.1415926536" upper="3.1415926536"
            velocity="3.0000" />
        <origin rpy="0 0 0" xyz="0.0 -0.0 -0.055856" />
    </joint>
    <joint name="joint_LeftHandIndex1_P" type="revolute">
        <parent link="link_LeftHandIndex1_R" />
        <child link="link_LeftHandIndex1_P" />
        <axis xyz="0 1 0" />
        <limit effort="100.0000" lower="-3.1415926536" upper="3.1415926536"
            velocity="3.0000" />
        <origin xyz="0 0 0" rpy="0 0 0" />
    </joint>
    <joint name="joint_LeftHandIndex1_Y" type="revolute">
        <parent link="link_LeftHandIndex1_P" />
        <child link="link_LeftHandIndex1_Y" />
        <axis xyz="0 0 1" />
        <limit effort="100.0000" lower="-3.1415926536" upper="3.1415926536"
            velocity="3.0000" />
        <origin xyz="0 0 0" rpy="0 0 0" />
    </joint>
    <joint name="joint_LeftHandIndex2_R" type="revolute">
        <parent link="link_LeftHandIndex1_Y" />
        <child link="link_LeftHandIndex2_R" />
        <axis xyz="1 0 0" />
        <limit effort="100.0000" lower="-3.1415926536" upper="3.1415926536"
            velocity="3.0000" />
        <origin rpy="0.0 0.0 0.0" xyz="0.0 -0.0 -0.038060" />
    </joint>
    <joint name="joint_LeftHandIndex2_P" type="revolute">
        <parent link="link_LeftHandIndex2_R" />
        <child link="link_LeftHandIndex2_P" />
        <axis xyz="0 1 0" />
        <limit effort="100.0000" lower="-3.1415926536" upper="3.1415926536"
            velocity="3.0000" />
        <origin xyz="0 0 0" rpy="0 0 0" />
    </joint>
    <joint name="joint_LeftHandIndex2_Y" type="revolute">
        <parent link="link_LeftHandIndex2_P" />
        <child link="link_LeftHandIndex2_Y" />
        <axis xyz="0 0 1" />
        <limit effort="100.0000" lower="-3.1415926536" upper="3.1415926536"
            velocity="3.0000" />
        <origin xyz="0 0 0" rpy="0 0 0" />
    </joint>
    <joint name="joint_LeftHandIndex3_R" type="revolute">
        <parent link="link_LeftHandIndex2_Y" />
        <child link="link_LeftHandIndex3_R" />
        <axis xyz="1 0 0" />
        <limit effort="100.0000" lower="-3.1415926536" upper="3.1415926536"
            velocity="3.0000" />
        <origin rpy="0.0 0.0 -0.0" xyz="0.0 -0.0 -0.021580" />
    </joint>
    <joint name="joint_LeftHandIndex3_P" type="revolute">
        <parent link="link_LeftHandIndex3_R" />
        <child link="link_LeftHandIndex3_P" />
        <axis xyz="0 1 0" />
        <limit effort="100.0000" lower="-3.1415926536" upper="3.1415926536"
            velocity="3.0000" />
        <origin xyz="0 0 0" rpy="0 0 0" />
    </joint>
    <joint name="joint_LeftHandIndex3_Y" type="revolute">
        <parent link="link_LeftHandIndex3_P" />
        <child link="link_LeftHandIndex3_Y" />
        <axis xyz="0 0 1" />
        <limit effort="100.0000" lower="-3.1415926536" upper="3.1415926536"
            velocity="3.0000" />
        <origin xyz="0 0 0" rpy="0 0 0" />
    </joint>
    <joint name="joint_LeftInHandMiddle_R" type="revolute">
        <parent link="link_LeftHand_Y" />
        <child link="link_LeftInHandMiddle_R" />
        <axis xyz="1 0 0" />
        <limit effort="100.0000" lower="-3.1415926536" upper="3.1415926536"
            velocity="3.0000" />
        <origin rpy="0 0 0" xyz="0.001414 -0.001419 -0.036789" />
    </joint>
    <joint name="joint_LeftInHandMiddle_P" type="revolute">
        <parent link="link_LeftInHandMiddle_R" />
        <child link="link_LeftInHandMiddle_P" />
        <axis xyz="0 1 0" />
        <limit effort="100.0000" lower="-3.1415926536" upper="3.1415926536"
            velocity="3.0000" />
        <origin xyz="0 0 0" rpy="0 0 0" />
    </joint>
    <joint name="joint_LeftInHandMiddle_Y" type="revolute">
        <parent link="link_LeftInHandMiddle_P" />
        <child link="link_LeftInHandMiddle_Y" />
        <axis xyz="0 0 1" />
        <limit effort="100.0000" lower="-3.1415926536" upper="3.1415926536"
            velocity="3.0000" />
        <origin xyz="0 0 0" rpy="0 0 0" />
    </joint>
    <joint name="joint_LeftHandMiddle1_R" type="revolute">
        <parent link="link_LeftInHandMiddle_Y" />
        <child link="link_LeftHandMiddle1_R" />
        <axis xyz="1 0 0" />
        <limit effort="100.0000" lower="-3.1415926536" upper="3.1415926536"
            velocity="3.0000" />
        <origin rpy="0 0 0" xyz="0.0 0.0 -0.054517" />
    </joint>
    <joint name="joint_LeftHandMiddle1_P" type="revolute">
        <parent link="link_LeftHandMiddle1_R" />
        <child link="link_LeftHandMiddle1_P" />
        <axis xyz="0 1 0" />
        <limit effort="100.0000" lower="-3.1415926536" upper="3.1415926536"
            velocity="3.0000" />
        <origin xyz="0 0 0" rpy="0 0 0" />
    </joint>
    <joint name="joint_LeftHandMiddle1_Y" type="revolute">
        <parent link="link_LeftHandMiddle1_P" />
        <child link="link_LeftHandMiddle1_Y" />
        <axis xyz="0 0 1" />
        <limit effort="100.0000" lower="-3.1415926536" upper="3.1415926536"
            velocity="3.0000" />
        <origin xyz="0 0 0" rpy="0 0 0" />
    </joint>
    <joint name="joint_LeftHandMiddle2_R" type="revolute">
        <parent link="link_LeftHandMiddle1_Y" />
        <child link="link_LeftHandMiddle2_R" />
        <axis xyz="1 0 0" />
        <limit effort="100.0000" lower="-3.1415926536" upper="3.1415926536"
            velocity="3.0000" />
        <origin rpy="0.0 0.0 -0.0" xyz="0.0 -0.0 -0.041530" />
    </joint>
    <joint name="joint_LeftHandMiddle2_P" type="revolute">
        <parent link="link_LeftHandMiddle2_R" />
        <child link="link_LeftHandMiddle2_P" />
        <axis xyz="0 1 0" />
        <limit effort="100.0000" lower="-3.1415926536" upper="3.1415926536"
            velocity="3.0000" />
        <origin xyz="0 0 0" rpy="0 0 0" />
    </joint>
    <joint name="joint_LeftHandMiddle2_Y" type="revolute">
        <parent link="link_LeftHandMiddle2_P" />
        <child link="link_LeftHandMiddle2_Y" />
        <axis xyz="0 0 1" />
        <limit effort="100.0000" lower="-3.1415926536" upper="3.1415926536"
            velocity="3.0000" />
        <origin xyz="0 0 0" rpy="0 0 0" />
    </joint>
    <joint name="joint_LeftHandMiddle3_R" type="revolute">
        <parent link="link_LeftHandMiddle2_Y" />
        <child link="link_LeftHandMiddle3_R" />
        <axis xyz="1 0 0" />
        <limit effort="100.0000" lower="-3.1415926536" upper="3.1415926536"
            velocity="3.0000" />
        <origin rpy="0.0 0.0 -0.0" xyz="0.0 -0.0 -0.026030" />
    </joint>
    <joint name="joint_LeftHandMiddle3_P" type="revolute">
        <parent link="link_LeftHandMiddle3_R" />
        <child link="link_LeftHandMiddle3_P" />
        <axis xyz="0 1 0" />
        <limit effort="100.0000" lower="-3.1415926536" upper="3.1415926536"
            velocity="3.0000" />
        <origin xyz="0 0 0" rpy="0 0 0" />
    </joint>
    <joint name="joint_LeftHandMiddle3_Y" type="revolute">
        <parent link="link_LeftHandMiddle3_P" />
        <child link="link_LeftHandMiddle3_Y" />
        <axis xyz="0 0 1" />
        <limit effort="100.0000" lower="-3.1415926536" upper="3.1415926536"
            velocity="3.0000" />
        <origin xyz="0 0 0" rpy="0 0 0" />
    </joint>
    <joint name="joint_LeftInHandRing_R" type="revolute">
        <parent link="link_LeftHand_Y" />
        <child link="link_LeftInHandRing_R" />
        <axis xyz="1 0 0" />
        <limit effort="100.0000" lower="-3.1415926536" upper="3.1415926536"
            velocity="3.0000" />
        <origin rpy="0 0 0" xyz="-0.000343 -0.010250 -0.034368" />
    </joint>
    <joint name="joint_LeftInHandRing_P" type="revolute">
        <parent link="link_LeftInHandRing_R" />
        <child link="link_LeftInHandRing_P" />
        <axis xyz="0 1 0" />
        <limit effort="100.0000" lower="-3.1415926536" upper="3.1415926536"
            velocity="3.0000" />
        <origin xyz="0 0 0" rpy="0 0 0" />
    </joint>
    <joint name="joint_LeftInHandRing_Y" type="revolute">
        <parent link="link_LeftInHandRing_P" />
        <child link="link_LeftInHandRing_Y" />
        <axis xyz="0 0 1" />
        <limit effort="100.0000" lower="-3.1415926536" upper="3.1415926536"
            velocity="3.0000" />
        <origin xyz="0 0 0" rpy="0 0 0" />
    </joint>
    <joint name="joint_LeftHandRing1_R" type="revolute">
        <parent link="link_LeftInHandRing_Y" />
        <child link="link_LeftHandRing1_R" />
        <axis xyz="1 0 0" />
        <limit effort="100.0000" lower="-3.1415926536" upper="3.1415926536"
            velocity="3.0000" />
        <origin rpy="0 0 0" xyz="0.0 0.0 -0.048991" />
    </joint>
    <joint name="joint_LeftHandRing1_P" type="revolute">
        <parent link="link_LeftHandRing1_R" />
        <child link="link_LeftHandRing1_P" />
        <axis xyz="0 1 0" />
        <limit effort="100.0000" lower="-3.1415926536" upper="3.1415926536"
            velocity="3.0000" />
        <origin xyz="0 0 0" rpy="0 0 0" />
    </joint>
    <joint name="joint_LeftHandRing1_Y" type="revolute">
        <parent link="link_LeftHandRing1_P" />
        <child link="link_LeftHandRing1_Y" />
        <axis xyz="0 0 1" />
        <limit effort="100.0000" lower="-3.1415926536" upper="3.1415926536"
            velocity="3.0000" />
        <origin xyz="0 0 0" rpy="0 0 0" />
    </joint>
    <joint name="joint_LeftHandRing2_R" type="revolute">
        <parent link="link_LeftHandRing1_Y" />
        <child link="link_LeftHandRing2_R" />
        <axis xyz="1 0 0" />
        <limit effort="100.0000" lower="-3.1415926536" upper="3.1415926536"
            velocity="3.0000" />
        <origin rpy="0.0 0.0 -0.0" xyz="0.0 -0.0 -0.036190" />
    </joint>
    <joint name="joint_LeftHandRing2_P" type="revolute">
        <parent link="link_LeftHandRing2_R" />
        <child link="link_LeftHandRing2_P" />
        <axis xyz="0 1 0" />
        <limit effort="100.0000" lower="-3.1415926536" upper="3.1415926536"
            velocity="3.0000" />
        <origin xyz="0 0 0" rpy="0 0 0" />
    </joint>
    <joint name="joint_LeftHandRing2_Y" type="revolute">
        <parent link="link_LeftHandRing2_P" />
        <child link="link_LeftHandRing2_Y" />
        <axis xyz="0 0 1" />
        <limit effort="100.0000" lower="-3.1415926536" upper="3.1415926536"
            velocity="3.0000" />
        <origin xyz="0 0 0" rpy="0 0 0" />
    </joint>
    <joint name="joint_LeftHandRing3_R" type="revolute">
        <parent link="link_LeftHandRing2_Y" />
        <child link="link_LeftHandRing3_R" />
        <axis xyz="1 0 0" />
        <limit effort="100.0000" lower="-3.1415926536" upper="3.1415926536"
            velocity="3.0000" />
        <origin rpy="0.0 0.0 -0.0" xyz="0.0 -0.0 -0.025110" />
    </joint>
    <joint name="joint_LeftHandRing3_P" type="revolute">
        <parent link="link_LeftHandRing3_R" />
        <child link="link_LeftHandRing3_P" />
        <axis xyz="0 1 0" />
        <limit effort="100.0000" lower="-3.1415926536" upper="3.1415926536"
            velocity="3.0000" />
        <origin xyz="0 0 0" rpy="0 0 0" />
    </joint>
    <joint name="joint_LeftHandRing3_Y" type="revolute">
        <parent link="link_LeftHandRing3_P" />
        <child link="link_LeftHandRing3_Y" />
        <axis xyz="0 0 1" />
        <limit effort="100.0000" lower="-3.1415926536" upper="3.1415926536"
            velocity="3.0000" />
        <origin xyz="0 0 0" rpy="0 0 0" />
    </joint>
    <joint name="joint_LeftInHandPinky_R" type="revolute">
        <parent link="link_LeftHand_Y" />
        <child link="link_LeftInHandPinky_R" />
        <axis xyz="1 0 0" />
        <limit effort="100.0000" lower="-3.1415926536" upper="3.1415926536"
            velocity="3.0000" />
        <origin rpy="0 0 0" xyz="-0.003119 -0.020281 -0.029462" />
    </joint>
    <joint name="joint_LeftInHandPinky_P" type="revolute">
        <parent link="link_LeftInHandPinky_R" />
        <child link="link_LeftInHandPinky_P" />
        <axis xyz="0 1 0" />
        <limit effort="100.0000" lower="-3.1415926536" upper="3.1415926536"
            velocity="3.0000" />
        <origin xyz="0 0 0" rpy="0 0 0" />
    </joint>
    <joint name="joint_LeftInHandPinky_Y" type="revolute">
        <parent link="link_LeftInHandPinky_P" />
        <child link="link_LeftInHandPinky_Y" />
        <axis xyz="0 0 1" />
        <limit effort="100.0000" lower="-3.1415926536" upper="3.1415926536"
            velocity="3.0000" />
        <origin xyz="0 0 0" rpy="0 0 0" />
    </joint>
    <joint name="joint_LeftHandPinky1_R" type="revolute">
        <parent link="link_LeftInHandPinky_Y" />
        <child link="link_LeftHandPinky1_R" />
        <axis xyz="1 0 0" />
        <limit effort="100.0000" lower="-3.1415926536" upper="3.1415926536"
            velocity="3.0000" />
        <origin rpy="0 0 0" xyz="0.0 0.0 -0.045026" />
    </joint>
    <joint name="joint_LeftHandPinky1_P" type="revolute">
        <parent link="link_LeftHandPinky1_R" />
        <child link="link_LeftHandPinky1_P" />
        <axis xyz="0 1 0" />
        <limit effort="100.0000" lower="-3.1415926536" upper="3.1415926536"
            velocity="3.0000" />
        <origin xyz="0 0 0" rpy="0 0 0" />
    </joint>
    <joint name="joint_LeftHandPinky1_Y" type="revolute">
        <parent link="link_LeftHandPinky1_P" />
        <child link="link_LeftHandPinky1_Y" />
        <axis xyz="0 0 1" />
        <limit effort="100.0000" lower="-3.1415926536" upper="3.1415926536"
            velocity="3.0000" />
        <origin xyz="0 0 0" rpy="0 0 0" />
    </joint>
    <joint name="joint_LeftHandPinky2_R" type="revolute">
        <parent link="link_LeftHandPinky1_Y" />
        <child link="link_LeftHandPinky2_R" />
        <axis xyz="1 0 0" />
        <limit effort="100.0000" lower="-3.1415926536" upper="3.1415926536"
            velocity="3.0000" />
        <origin rpy="0.0 0.0 0.0" xyz="0.0 -0.0 -0.028980" />
    </joint>
    <joint name="joint_LeftHandPinky2_P" type="revolute">
        <parent link="link_LeftHandPinky2_R" />
        <child link="link_LeftHandPinky2_P" />
        <axis xyz="0 1 0" />
        <limit effort="100.0000" lower="-3.1415926536" upper="3.1415926536"
            velocity="3.0000" />
        <origin xyz="0 0 0" rpy="0 0 0" />
    </joint>
    <joint name="joint_LeftHandPinky2_Y" type="revolute">
        <parent link="link_LeftHandPinky2_P" />
        <child link="link_LeftHandPinky2_Y" />
        <axis xyz="0 0 1" />
        <limit effort="100.0000" lower="-3.1415926536" upper="3.1415926536"
            velocity="3.0000" />
        <origin xyz="0 0 0" rpy="0 0 0" />
    </joint>
    <joint name="joint_LeftHandPinky3_R" type="revolute">
        <parent link="link_LeftHandPinky2_Y" />
        <child link="link_LeftHandPinky3_R" />
        <axis xyz="1 0 0" />
        <limit effort="100.0000" lower="-3.1415926536" upper="3.1415926536"
            velocity="3.0000" />
        <origin rpy="0.0 0.0 -0.0" xyz="0.0 -0.0 -0.018310" />
    </joint>
    <joint name="joint_LeftHandPinky3_P" type="revolute">
        <parent link="link_LeftHandPinky3_R" />
        <child link="link_LeftHandPinky3_P" />
        <axis xyz="0 1 0" />
        <limit effort="100.0000" lower="-3.1415926536" upper="3.1415926536"
            velocity="3.0000" />
        <origin xyz="0 0 0" rpy="0 0 0" />
    </joint>
    <joint name="joint_LeftHandPinky3_Y" type="revolute">
        <parent link="link_LeftHandPinky3_P" />
        <child link="link_LeftHandPinky3_Y" />
        <axis xyz="0 0 1" />
        <limit effort="100.0000" lower="-3.1415926536" upper="3.1415926536"
            velocity="3.0000" />
        <origin xyz="0 0 0" rpy="0 0 0" />
    </joint>
</robot>
